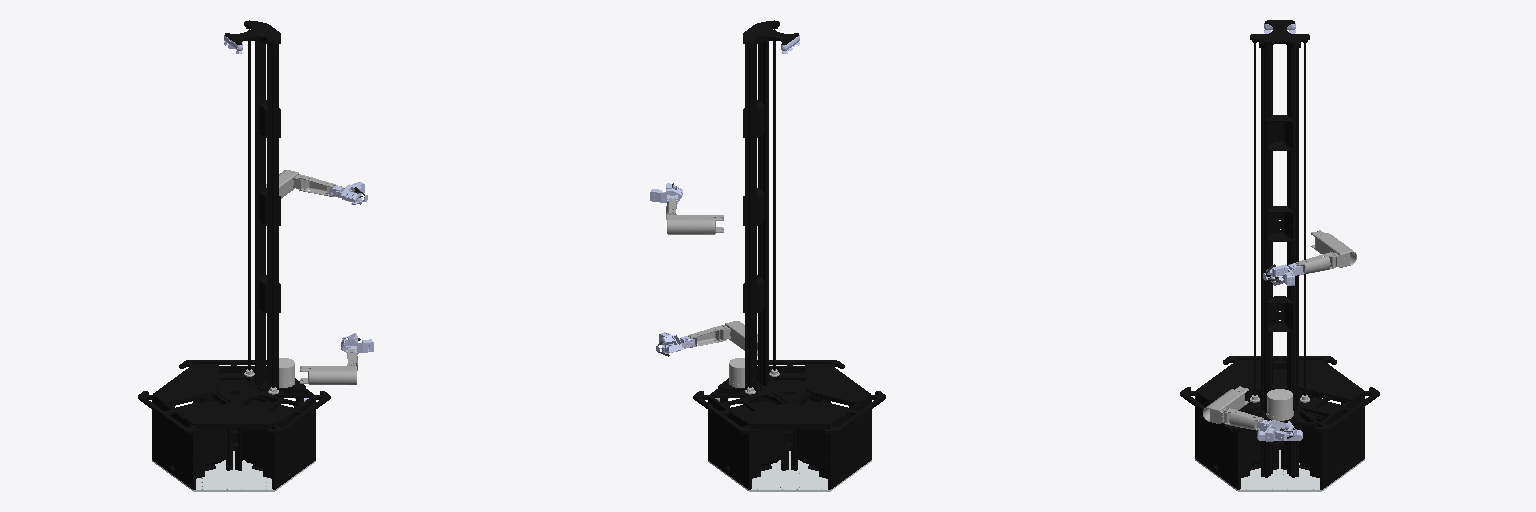
--- Facts derived from the render (not from the file) ---
Views: 3 orthographic renders of the robot side by side, from view 1: azimuth 30°, elevation 25°; view 2: azimuth 150°, elevation 25°; view 3: azimuth 270°, elevation 25°.
Robot: stickbug — 77 links, 76 joints (42 revolute, 3 continuous, 6 prismatic, 25 fixed); root link stickbug/drivebase/base_footprint; default pose: joints at zero except 3 at the middle of their limits (stickbug/arm1/slider = 0.655, stickbug/arm3/slider = 0.655, stickbug/arm5/slider = 0.655).
Links seen in each view (by area): view 1: stickbug/drivebase/base_link, stickbug/drivebase/base_footprint, stickbug/arm2/bicep; view 2: stickbug/drivebase/base_link, stickbug/drivebase/base_footprint, stickbug/arm1/bicep; view 3: stickbug/drivebase/base_link, stickbug/drivebase/base_footprint, stickbug/arm1/bicep, stickbug/arm2/bicep, stickbug/drivebase/lidar.
Boxes of the visible links, x1=… form: stickbug/drivebase/base_link: x1=138, y1=20, x2=330, y2=489; stickbug/drivebase/base_footprint: x1=152, y1=451, x2=315, y2=491; stickbug/arm2/bicep: x1=300, y1=363, x2=356, y2=384; stickbug/drivebase/base_link: x1=693, y1=20, x2=885, y2=489; stickbug/drivebase/base_footprint: x1=708, y1=451, x2=871, y2=491; stickbug/arm1/bicep: x1=667, y1=214, x2=723, y2=234; stickbug/drivebase/base_link: x1=1180, y1=20, x2=1379, y2=489; stickbug/drivebase/base_footprint: x1=1195, y1=450, x2=1364, y2=491; stickbug/arm1/bicep: x1=1311, y1=230, x2=1356, y2=267; stickbug/arm2/bicep: x1=1203, y1=386, x2=1248, y2=423; stickbug/drivebase/lidar: x1=1266, y1=389, x2=1293, y2=420.
Bounding box of the posed robot: 0.9406 × 0.7584 × 1.84 m (x, y, z).
Meshes: 30 distinct files referenced, 61 mesh visuals loaded (25 binary STL); not drawn: 9 (reference not matched to a file when rendering).

The robot description file, URDF, robot "stickbug":
<?xml version="1.0" ?>
<!-- =================================================================================== -->
<!-- |    This document was autogenerated by xacro from [local-path]/workspace-stickbug/src/stickbug/robot-stickbug/stickbug/urdf/stickbug.urdf.xacro | -->
<!-- |    EDITING THIS FILE BY HAND IS NOT RECOMMENDED                                 | -->
<!-- =================================================================================== -->
<robot name="stickbug">
    <link name="stickbug/drivebase/base_footprint">
        <inertial>
            <origin rpy="0 0 0" xyz="2.14152041306814E-05 3.23189598462186E-05 0.066675" />
            <mass value="4.61207520224653" />
            <inertia ixx="0.0999230513061692" ixy="2.56363639829506E-06" ixz="-1.98809620225214E-19" iyy="0.0999410253939969" iyz="6.92922956199162E-20" izz="0.199833081633109" />
        </inertial>
        <visual>
            <origin rpy="0 0 0" xyz="0 0 0" />
            <geometry>
                <mesh filename="package://stickbug_base/meshes/base_footprint.STL" />
            </geometry>
            <material name="">
                <color rgba="0.898039215686275 0.917647058823529 0.929411764705882 1" />
            </material>
        </visual>
        <collision>
            <origin rpy="0 0 0" xyz="0 0 0" />
            <geometry>
                <mesh filename="package://stickbug_base/meshes/base_footprint.STL" />
            </geometry>
        </collision>
    </link>
    <link name="stickbug/drivebase/base_link">
        <inertial>
            <origin rpy="0 0 0" xyz="0.0102079284624479 -3.86323815662623E-05 0.201127610999515" />
            <mass value="35.0775372153667" />
            <inertia ixx="0.845153226678831" ixy="1.15795308289346E-06" ixz="-4.72502983562422E-06" iyy="0.857016820744041" iyz="-1.46341439248048E-08" izz="0.4330698567729" />
        </inertial>
        <visual>
            <origin rpy="0 0 0" xyz="0 0 0" />
            <geometry>
                <mesh filename="package://stickbug_base/meshes/base_link.STL" />
            </geometry>
            <material name="">
                <color rgba="0.109803921568627 0.109803921568627 0.109803921568627 1" />
            </material>
        </visual>
        <collision>
            <origin rpy="0 0 0" xyz="0 0 0" />
            <geometry>
                <mesh filename="package://stickbug_base/meshes/base_link.STL" />
            </geometry>
        </collision>
    </link>
    <joint name="stickbug/drivebase/foot2base" type="fixed">
        <origin rpy="0 0 0" xyz="2.1415E-05 3.2319E-05 0.0635" />
        <parent link="stickbug/drivebase/base_footprint" />
        <child link="stickbug/drivebase/base_link" />
        <axis xyz="0 0 0" />
    </joint>
    <link name="stickbug/drivebase/fr_wheel">
        <inertial>
            <origin rpy="0 0 0" xyz="4.82958464445016E-05 -7.32604728410462E-05 -0.0158742308710669" />
            <mass value="0.626653098801925" />
            <inertia ixx="0.00071178175395083" ixy="2.7414822166393E-09" ixz="-5.77419111548287E-08" iyy="0.000711774501854219" iyz="7.87863202048541E-08" izz="0.00139769373829352" />
        </inertial>
        <visual>
            <origin rpy="0 0 0" xyz="0 0 0" />
            <geometry>
                <mesh filename="package://stickbug_base/meshes/fr_wheel.STL" />
            </geometry>
            <material name="">
                <color rgba="0.792156862745098 0.819607843137255 0.933333333333333 1" />
            </material>
        </visual>
        <collision>
            <origin rpy="0 0 0" xyz="0 0 0" />
            <geometry>
                <mesh filename="package://stickbug_base/meshes/fr_wheel.STL" />
            </geometry>
        </collision>
    </link>
    <joint name="stickbug/drivebase/frw" type="continuous">
        <origin rpy="1.5708 0 0.5236" xyz="0.16059 -0.27821 0.0381" />
        <parent link="stickbug/drivebase/base_link" />
        <child link="stickbug/drivebase/fr_wheel" />
        <axis xyz="0 0 1" />
        <limit effort="10.0" velocity="10" />
        <dynamics damping="0.2" />
    </joint>
    <link name="stickbug/drivebase/fl_wheel">
        <inertial>
            <origin rpy="0 0 0" xyz="-7.20537664984366E-05 -6.99681935735462E-05 -0.0152708692239969" />
            <mass value="0.559485027704479" />
            <inertia ixx="0.000579784098176026" ixy="-1.88505640148465E-09" ixz="6.17916644106062E-08" iyy="0.000579785178714697" iyz="7.56495525234232E-08" izz="0.0011338073867259" />
        </inertial>
        <visual>
            <origin rpy="0 0 0" xyz="0 0 0" />
            <geometry>
                <mesh filename="package://stickbug_base/meshes/fl_wheel.STL" />
            </geometry>
            <material name="">
                <color rgba="0.792156862745098 0.819607843137255 0.933333333333333 1" />
            </material>
        </visual>
        <collision>
            <origin rpy="0 0 0" xyz="0 0 0" />
            <geometry>
                <mesh filename="package://stickbug_base/meshes/fl_wheel.STL" />
            </geometry>
        </collision>
    </link>
    <joint name="stickbug/drivebase/flw" type="continuous">
        <origin rpy="1.5708 0 2.618" xyz="0.16059 0.27815 0.0381" />
        <parent link="stickbug/drivebase/base_link" />
        <child link="stickbug/drivebase/fl_wheel" />
        <axis xyz="0 0 1" />
        <limit effort="10.0" velocity="10" />
        <dynamics damping="0.2" />
    </joint>
    <link name="stickbug/drivebase/b_wheel">
        <inertial>
            <origin rpy="0 0 0" xyz="8.36992519676054E-05 -2.63433393755813E-05 -0.0158742295235679" />
            <mass value="0.626653031138758" />
            <inertia ixx="0.00071177618338088" ixy="4.1083335760656E-09" ixz="-9.45107850065779E-08" iyy="0.000711780076798303" iyz="2.46679649776571E-08" izz="0.00139769373928287" />
        </inertial>
        <visual>
            <origin rpy="0 0 0" xyz="0 0 0" />
            <geometry>
                <mesh filename="package://stickbug_base/meshes/b_wheel.STL" />
            </geometry>
            <material name="">
                <color rgba="0.792156862745098 0.819607843137255 0.933333333333333 1" />
            </material>
        </visual>
        <collision>
            <origin rpy="0 0 0" xyz="0 0 0" />
            <geometry>
                <mesh filename="package://stickbug_base/meshes/b_wheel.STL" />
            </geometry>
        </collision>
    </link>
    <joint name="stickbug/drivebase/bw" type="continuous">
        <origin rpy="1.5708 0 -1.5708" xyz="-0.32124 -3.2319E-05 0.0381" />
        <parent link="stickbug/drivebase/base_link" />
        <child link="stickbug/drivebase/b_wheel" />
        <axis xyz="0 0 1" />
        <limit effort="10.0" velocity="10" />
        <dynamics damping="0.2" />
    </joint>
    <link name="stickbug/drivebase/lidar">
        <inertial>
            <origin rpy="0 0 0" xyz="-9.78202271295636E-05 -2.43039787231798E-06 0.0058316040170599" />
            <mass value="0.6957286087788" />
            <inertia ixx="0.000878507722123655" ixy="8.3578146326656E-11" ixz="8.3324695920418E-08" iyy="0.000878975923859681" iyz="-6.86791280845821E-08" izz="0.000889858414455019" />
        </inertial>
        <visual>
            <origin rpy="0 0 0" xyz="0 0 0" />
            <geometry>
                <mesh filename="package://stickbug_base/meshes/lidar.STL" />
            </geometry>
            <material name="">
                <color rgba="0.752941176470588 0.752941176470588 0.752941176470588 1" />
            </material>
        </visual>
        <collision>
            <origin rpy="0 0 0" xyz="0 0 0" />
            <geometry>
                <mesh filename="package://stickbug_base/meshes/lidar.STL" />
            </geometry>
        </collision>
    </link>
    <joint name="stickbug/drivebase/base2lidar" type="fixed">
        <origin rpy="0 0 0" xyz="0.21804 -3.2319E-05 0.32913" />
        <parent link="stickbug/drivebase/base_link" />
        <child link="stickbug/drivebase/lidar" />
        <axis xyz="0 0 0" />
    </joint>
    <link name="stickbug/drivebase/zed">
        <inertial>
            <origin rpy="0 0 0" xyz="-0.0194322614660269 9.12426059709588E-07 -0.000862607518043401" />
            <mass value="0.167694642835054" />
            <inertia ixx="0.000382844282483195" ixy="3.2315292808456E-09" ixz="-3.326725690359E-07" iyy="3.24806894733853E-05" iyz="1.49948250317334E-09" izz="0.000390509177129988" />
        </inertial>
        <visual>
            <origin rpy="0 0 0" xyz="0 0 0" />
            <geometry>
                <mesh filename="package://stickbug_base/meshes/zed.STL" />
            </geometry>
            <material name="">
                <color rgba="0.792156862745098 0.819607843137255 0.933333333333333 1" />
            </material>
        </visual>
        <collision>
            <origin rpy="0 0 0" xyz="0 0 0" />
            <geometry>
                <mesh filename="package://stickbug_base/meshes/zed.STL" />
            </geometry>
        </collision>
    </link>
    <joint name="stickbug/drivebase/base2zed" type="fixed">
        <origin rpy="0 0.034907 0" xyz="0.30283 -3.2319E-05 0.23593" />
        <parent link="stickbug/drivebase/base_link" />
        <child link="stickbug/drivebase/zed" />
        <axis xyz="0 0 0" />
    </joint>
    <link name="stickbug/drivebase/d355">
        <inertial>
            <origin rpy="0 0 0" xyz="-0.00788625798889209 -0.000593104662498781 9.05379812177198E-05" />
            <mass value="0.061436017794559" />
            <inertia ixx="5.89869602274054E-05" ixy="-1.96801347845483E-08" ixz="-2.7110431537758E-08" iyy="4.49845717604606E-06" iyz="1.96478787836703E-08" izz="5.57860158775296E-05" />
        </inertial>
        <visual>
            <origin rpy="0 0 0" xyz="0 0 0" />
            <geometry>
                <mesh filename="package://stickbug_base/meshes/d355.STL" />
            </geometry>
            <material name="">
                <color rgba="0.792156862745098 0.819607843137255 0.933333333333333 1" />
            </material>
        </visual>
        <collision>
            <origin rpy="0 0 0" xyz="0 0 0" />
            <geometry>
                <mesh filename="package://stickbug_base/meshes/d355.STL" />
            </geometry>
        </collision>
    </link>
    <joint name="stickbug/drivebase/base2d355" type="fixed">
        <origin rpy="3.1416 1.5708 0" xyz="-0.0035667 -3.2319E-05 1.8093" />
        <!-- 0 3.1416 -1.5708-->
        <parent link="stickbug/drivebase/base_link" />
        <child link="stickbug/drivebase/d355" />
        <axis xyz="0 0 0" />
    </joint>
    <link name="stickbug/drivebase/l_lift">
        <inertial>
            <origin rpy="0 0 0" xyz="0.000290120193721988 -3.98269065002427E-05 -0.0130757720478314" />
            <mass value="0.0129866178194594" />
            <inertia ixx="1.43164773219033E-06" ixy="2.3850396902316E-09" ixz="-1.65543141791114E-08" iyy="1.44873230959085E-06" iyz="2.27143690223563E-09" izz="2.11753052630025E-06" />
        </inertial>
        <visual>
            <origin rpy="0 0 0" xyz="0 0 0" />
            <geometry>
                <mesh filename="package://stickbug_base/meshes/l_lift.STL" />
            </geometry>
            <material name="">
                <color rgba="0.752941176470588 0.752941176470588 0.752941176470588 1" />
            </material>
        </visual>
        <collision>
            <origin rpy="0 0 0" xyz="0 0 0" />
            <geometry>
                <mesh filename="package://stickbug_base/meshes/l_lift.STL" />
            </geometry>
        </collision>
    </link>
    <joint name="stickbug/drivebase/base2l_lift" type="fixed">
        <origin rpy="0 0 0" xyz="0.12397 0.094788 0.32988" />
        <parent link="stickbug/drivebase/base_link" />
        <child link="stickbug/drivebase/l_lift" />
        <axis xyz="0 0 0" />
    </joint>
    <link name="stickbug/drivebase/r_lift">
        <inertial>
            <origin rpy="0 0 0" xyz="0.00029284109815797 -2.274392613133E-08 -0.013075772047841" />
            <mass value="0.0129866178194594" />
            <inertia ixx="1.43132102452946E-06" ixy="-3.75614859620096E-12" ixz="-1.67094208007256E-08" iyy="1.44905901725174E-06" iyz="2.13866775789404E-13" izz="2.11753052630024E-06" />
        </inertial>
        <visual>
            <origin rpy="0 0 0" xyz="0 0 0" />
            <geometry>
                <mesh filename="package://stickbug_base/meshes/r_lift.STL" />
            </geometry>
            <material name="">
                <color rgba="0.752941176470588 0.752941176470588 0.752941176470588 1" />
            </material>
        </visual>
        <collision>
            <origin rpy="0 0 0" xyz="0 0 0" />
            <geometry>
                <mesh filename="package://stickbug_base/meshes/r_lift.STL" />
            </geometry>
        </collision>
    </link>
    <joint name="stickbug/drivebase/base2r_lift" type="fixed">
        <origin rpy="0 0 0" xyz="0.12379 -0.095217 0.32988" />
        <parent link="stickbug/drivebase/base_link" />
        <child link="stickbug/drivebase/r_lift" />
        <axis xyz="0 0 0" />
    </joint>
    <link name="stickbug/drivebase/camera_frame" />
    <joint name="stickbug/drivebase/d3552cam" type="fixed">
        <parent link="stickbug/drivebase/d355" />
        <child link="stickbug/drivebase/camera_frame" />
        <origin rpy="-1.57 0.0 -1.57" xyz="0.0 0.0 0.0" />
    </joint>
    <!-- ================================= motor joint controllers ==========================-->
    <transmission name="stickbug/drivebase/trans_frw">
        <type>transmission_interface/SimpleTransmission</type>
        <joint name="stickbug/drivebase/frw">
            <hardwareInterface>hardware_interface/EffortJointInterface</hardwareInterface>
        </joint>
        <actuator name="stickbug/drivebase/frw_motor">
            <hardwareInterface>hardware_interface/EffortJointInterface</hardwareInterface>
            <mechanicalReduction>1</mechanicalReduction>
        </actuator>
    </transmission>
    <transmission name="stickbug/drivebase/trans_flw">
        <type>transmission_interface/SimpleTransmission</type>
        <joint name="stickbug/drivebase/flw">
            <hardwareInterface>hardware_interface/EffortJointInterface</hardwareInterface>
        </joint>
        <actuator name="stickbug/drivebase/flw_motor">
            <hardwareInterface>hardware_interface/EffortJointInterface</hardwareInterface>
            <mechanicalReduction>1</mechanicalReduction>
        </actuator>
    </transmission>
    <transmission name="stickbug/drivebase/trans_bw">
        <type>transmission_interface/SimpleTransmission</type>
        <joint name="stickbug/drivebase/bw">
            <hardwareInterface>hardware_interface/EffortJointInterface</hardwareInterface>
        </joint>
        <actuator name="stickbug/drivebase/bw_motor">
            <hardwareInterface>hardware_interface/EffortJointInterface</hardwareInterface>
            <mechanicalReduction>1</mechanicalReduction>
        </actuator>
    </transmission>
    <!--=============================== holonomic drivetrain plugin ==========================-->
    <gazebo>
        <plugin filename="libgazebo_ros_planar_move.so" name="stickbug/drivebase/object_controller">
            <commandTopic>stickbug/drivebase/cmd_vel</commandTopic>
            <odometryTopic>stickbug/drivebase/odom</odometryTopic>
            <odometryFrame>odom</odometryFrame>
            <odometryRate>20.0</odometryRate>
            <robotBaseFrame>stickbug/drivebase/base_footprint</robotBaseFrame>
        </plugin>
        <plugin name="gazebo_ros_control">
            <robotNamespace>/</robotNamespace>
        </plugin>
    </gazebo>
    <!--================================ realsense plugin ================================-->
    <gazebo reference="stickbug/drivebase/d355">
        <sensor name="stickbug/drivebase/d355_camera" type="depth">
            <update_rate>20</update_rate>
            <camera>
                <horizontal_fov>1.047198</horizontal_fov>
                <image>
                    <width>640</width>
                    <height>480</height>
                    <format>R8G8B8</format>
                </image>
                <clip>
                    <near>0.05</near>
                    <far>3</far>
                </clip>
            </camera>
            <plugin filename="libgazebo_ros_openni_kinect.so" name="stickbug/drivebase/d355_controller">
                <baseline>0.2</baseline>
                <alwaysOn>true</alwaysOn>
                <updateRate>1.0</updateRate>
                <cameraName>stickbug/drivebase/d355</cameraName>
                <imageTopicName>color/image_raw</imageTopicName>
                <cameraInfoTopicName>color/camera_info</cameraInfoTopicName>
                <depthImageTopicName>depth/image_raw</depthImageTopicName>
                <depthImageInfoTopicName>depth/camera_info</depthImageInfoTopicName>
                <pointCloudTopicName>depth/points</pointCloudTopicName>
                <frameName>stickbug/drivebase/camera_frame</frameName>
                <pointCloudCutoff>0.5</pointCloudCutoff>
                <pointCloudCutoffMax>3.0</pointCloudCutoffMax>
                <distortionK1>0.00000001</distortionK1>
                <distortionK2>0.00000001</distortionK2>
                <distortionK3>0.00000001</distortionK3>
                <distortionT1>0.00000001</distortionT1>
                <distortionT2>0.00000001</distortionT2>
                <CxPrime>0</CxPrime>
                <Cx>0</Cx>
                <Cy>0</Cy>
                <focalLength>0</focalLength>
                <hackBaseline>0</hackBaseline>
            </plugin>
        </sensor>
    </gazebo>
    <!--================================ lidar plugin ============================================-->
    <gazebo reference="stickbug/drivebase/lidar">
        <sensor name="sonar" type="ray">
            <pose>0.0 0.0 0.0 0.0 0.0 0.0</pose>
            <ray>
                <scan>
                    <horizontal>
                        <samples>360</samples>
                        <resolution>1.0</resolution>
                        <min_angle>-3.14</min_angle>
                        <max_angle>3.14</max_angle>
                    </horizontal>
                    <vertical>
                        <samples>32</samples>
                        <resolution>1.0</resolution>
                        <min_angle>-0.7854</min_angle>
                        <max_angle>0.7854</max_angle>
                    </vertical>
                </scan>
                <range>
                    <min>0.2</min>
                    <max>50.0</max>
                </range>
            </ray>
            <plugin filename="libgazebo_ros_block_laser.so" name="sonar_plugin">
                <gaussianNoise>0.00</gaussianNoise>
                <alwaysOn>true</alwaysOn>
                <updateRate>100.0</updateRate>
                <topicName>stickbug/drivebase/points</topicName>
                <frameName>stickbug/drivebase/lidar</frameName>
            </plugin>
            <always_on>true</always_on>
            <update_rate>100.0</update_rate>
        </sensor>
    </gazebo>
    <!--joint name="${ns}/lift2base" type="fixed">
      <parent link="${parent_link}"/>
      <child link="${ns}/base"/>
      <axis xyz="0 0 0" />
      <origin rpy="0 0 0" xyz="0 0 0"/>
    </joint>

    <link
      name="${ns}/base">
      <inertial>
      <origin xyz="0 0 0" rpy="0 0 0"/>
      <mass value=".0001"/>
      <inertia
        ixx="0.0001" ixy="0.0001" ixz="0.0001"
        iyy="0.0001" iyz="0.0001"
        izz="0.0001"/>
      </inertial>
    </link>-->
    <link name="stickbug/arm1/box">
        <inertial>
            <origin rpy="0 0 0" xyz="-0.0294836466854796 0.00650699178978326 0.044874078657663" />
            <mass value="1.25224595398726" />
            <inertia ixx="0.00206596064394956" ixy="-0.000334896166615364" ixz="0.000136948453654299" iyy="0.0035115970252851" iyz="-4.17254634185765E-05" izz="0.00431158338218049" />
        </inertial>
        <visual>
            <origin rpy="0 0 0" xyz="0 0 0" />
            <geometry>
                <mesh filename="package://poll_arm_left/meshes/box.STL" />
            </geometry>
            <material name="">
                <color rgba="0.792156862745098 0.819607843137255 0.933333333333333 1" />
            </material>
        </visual>
        <collision>
            <origin rpy="0 0 0" xyz="0 0 0" />
            <geometry>
                <mesh filename="package://poll_arm_left/meshes/box.STL" />
            </geometry>
        </collision>
    </link>
    <joint name="stickbug/arm1/slider" type="prismatic">
        <origin rpy="0 0 0" xyz="0 0 0" />
        <parent link="stickbug/drivebase/l_lift" />
        <child link="stickbug/arm1/box" />
        <axis xyz="0 0 1" />
        <limit effort="100" lower="0.01" upper="1.3" velocity=".5" />
        <dynamics damping="0.2" />
    </joint>
    <link name="stickbug/arm1/bicep">
        <inertial>
            <origin rpy="0 0 0" xyz="0.19577236492752 -0.0256170060224436 0.030251757517972" />
            <mass value="0.0881583450015477" />
            <inertia ixx="4.02190655717306E-05" ixy="9.41441514112841E-09" ixz="4.66388635592044E-08" iyy="2.35490419805005E-05" iyz="-9.36030697866667E-08" izz="3.32834464790013E-05" />
        </inertial>
        <visual>
            <origin rpy="0 0 0" xyz="0 0 0" />
            <geometry>
                <mesh filename="package://poll_arm_left/meshes/bicep.STL" />
            </geometry>
            <material name="">
                <color rgba="0.698039215686274 0.698039215686274 0.698039215686274 1" />
            </material>
        </visual>
        <collision>
            <origin rpy="0 0 0" xyz="0 0 0" />
            <geometry>
                <mesh filename="package://poll_arm_left/meshes/bicep.STL" />
            </geometry>
        </collision>
    </link>
    <joint name="stickbug/arm1/shoulder" type="revolute">
        <origin rpy="0 0 0.5236" xyz="0.10198 0.044401 0.019165" />
        <parent link="stickbug/arm1/box" />
        <child link="stickbug/arm1/bicep" />
        <axis xyz="0 0 1" />
        <limit effort="10" lower="-1.57" upper="1.57" velocity="1" />
        <dynamics damping="0.01" />
    </joint>
    <link name="stickbug/arm1/forearm">
        <inertial>
            <origin rpy="0 0 0" xyz="0.0765243373190795 0.00763087662935313 0.0278702986201432" />
            <mass value="0.0881583450015477" />
            <inertia ixx="4.02190655717306E-05" ixy="9.41441514112841E-09" ixz="4.66388635592044E-08" iyy="2.35490419805005E-05" iyz="-9.36030697866667E-08" izz="3.32834464790013E-05" />
        </inertial>
        <visual>
            <origin rpy="0 0 0" xyz="0 0 0" />
            <geometry>
                <mesh filename="package://poll_arm_left/meshes/forearm.STL" />
            </geometry>
            <material name="">
                <color rgba="0.698039215686274 0.698039215686274 0.698039215686274 1" />
            </material>
        </visual>
        <collision>
            <origin rpy="0 0 0" xyz="0 0 0" />
            <geometry>
                <mesh filename="package://poll_arm_left/meshes/forearm.STL" />
            </geometry>
        </collision>
    </link>
    <joint name="stickbug/arm1/elbow" type="revolute">
        <origin rpy="0 0 -1.5708" xyz="0.1959 -0.040686 0.0024841" />
        <parent link="stickbug/arm1/bicep" />
        <child link="stickbug/arm1/forearm" />
        <axis xyz="0 0 1" />
        <limit effort="10" lower="-1.57" upper="1.57" velocity="1" />
        <dynamics damping="0.01" />
    </joint>
    <link name="stickbug/arm1/w1_link">
        <inertial>
            <origin rpy="0 0 0" xyz="0.011999849295342 0.000549087822445393 0.0223834540031007" />
            <mass value="0.0565320862795783" />
            <inertia ixx="1.0226625085126E-05" ixy="-6.10475234166538E-10" ixz="7.97796107526984E-10" iyy="1.43894864274769E-05" iyz="3.44003507752819E-07" izz="1.4389503019841E-05" />
        </inertial>
        <visual>
            <origin rpy="0 0 0" xyz="0 0 0" />
            <geometry>
                <mesh filename="package://poll_arm_left/meshes/w1_link.STL" />
            </geometry>
            <material name="">
                <color rgba="0.792156862745098 0.819607843137255 0.933333333333333 1" />
            </material>
        </visual>
        <collision>
            <origin rpy="0 0 0" xyz="0 0 0" />
            <geometry>
                <mesh filename="package://poll_arm_left/meshes/w1_link.STL" />
            </geometry>
        </collision>
    </link>
    <joint name="stickbug/arm1/w1" type="revolute">
        <origin rpy="0 0 0" xyz="0.15435 0 0.0058612" />
        <parent link="stickbug/arm1/forearm" />
        <child link="stickbug/arm1/w1_link" />
        <axis xyz="0 0 1" />
        <limit effort="1" lower="-1.57" upper="1.57" velocity="1" />
        <dynamics damping="0.01" />
    </joint>
    <link name="stickbug/arm1/w2_link">
        <inertial>
            <origin rpy="0 0 0" xyz="0.0566451733011975 -0.00141725658574912 0.0284323416048119" />
            <mass value="0.153757182920479" />
            <inertia ixx="9.61201704567482E-05" ixy="-2.53181854057694E-06" ixz="1.28235405708061E-05" iyy="0.000113585627853035" iyz="-2.70973268265226E-06" izz="6.51970121574257E-05" />
        </inertial>
        <visual>
            <origin rpy="0 0 0" xyz="0 0 0" />
            <geometry>
                <mesh filename="package://poll_arm_left/meshes/w2_link.STL" />
            </geometry>
            <material name="">
                <color rgba="0.792156862745098 0.819607843137255 0.933333333333333 1" />
            </material>
        </visual>
        <collision>
            <origin rpy="0 0 0" xyz="0 0 0" />
            <geometry>
                <mesh filename="package://poll_arm_left/meshes/w2_link.STL" />
            </geometry>
        </collision>
    </link>
    <joint name="stickbug/arm1/w2" type="revolute">
        <origin rpy="-1.5708 0 0" xyz="0.024 -0.0222 0.021834" />
        <parent link="stickbug/arm1/w1_link" />
        <child link="stickbug/arm1/w2_link" />
        <axis xyz="0 0 1" />
        <limit effort="1" lower="-1.57" upper="1.57" velocity="1" />
        <dynamics damping="0.01" />
    </joint>
    <link name="stickbug/arm1/cam_link">
        <inertial>
            <origin rpy="0 0 0" xyz="-0.0113814657659481 -3.77656326211451E-08 -8.96828082673773E-05" />
            <mass value="0.039484046404376" />
            <inertia ixx="1.13008734896739E-05" ixy="-1.1840327216836E-12" ixz="-1.1184981555834E-08" iyy="7.34442345562825E-06" iyz="2.14724251253116E-11" izz="7.39890475454633E-06" />
        </inertial>
        <visual>
            <origin rpy="0 0 0" xyz="0 0 0" />
            <geometry>
                <mesh filename="package://poll_arm_left/meshes/cam_link.STL" />
            </geometry>
            <material name="">
                <color rgba="0.792156862745098 0.819607843137255 0.933333333333333 1" />
            </material>
        </visual>
        <collision>
            <origin rpy="0 0 0" xyz="0 0 0" />
            <geometry>
                <mesh filename="package://poll_arm_left/meshes/cam_link.STL" />
            </geometry>
        </collision>
    </link>
    <joint name="stickbug/arm1/cam_joint" type="fixed">
        <origin rpy="0 0.2618 0" xyz="0.063863 0 0.083432" />
        <parent link="stickbug/arm1/w2_link" />
        <child link="stickbug/arm1/cam_link" />
        <axis xyz="0 0 0" />
    </joint>
    <link name="stickbug/arm1/e1_link">
        <inertial>
            <origin rpy="0 0 0" xyz="0.00768377159854705 0.00530600599131281 -0.000730992899423188" />
            <mass value="0.00225996756513805" />
            <inertia ixx="1.30412723697187E-07" ixy="9.73218559749733E-08" ixz="2.16169394663049E-08" iyy="1.966205244536E-07" iyz="-1.2986245459416E-08" izz="3.15647081687985E-07" />
        </inertial>
        <visual>
            <origin rpy="0 0 0" xyz="0 0 0" />
            <geometry>
                <mesh filename="package://poll_arm_left/meshes/e1_link.STL" />
            </geometry>
            <material name="">
                <color rgba="0.792156862745098 0.819607843137255 0.933333333333333 1" />
            </material>
        </visual>
        <collision>
            <origin rpy="0 0 0" xyz="0 0 0" />
            <geometry>
                <mesh filename="package://poll_arm_left/meshes/e1_link.STL" />
            </geometry>
        </collision>
    </link>
    <joint name="stickbug/arm1/e1" type="revolute">
        <origin rpy="-1.0472 0 0" xyz="0.077 0.011263 0.0070007" />
        <parent link="stickbug/arm1/w2_link" />
        <child link="stickbug/arm1/e1_link" />
        <axis xyz="0 0 1" />
        <limit effort=".01" lower="-1.57" upper="1.57" velocity="1" />
        <dynamics damping="0.01" />
    </joint>
    <link name="stickbug/arm1/e2_link">
        <inertial>
            <origin rpy="0 0 0" xyz="0.00768377159939804 0.00530600599028475 -0.000730992897713945" />
            <mass value="0.00225996756505407" />
            <inertia ixx="1.30412723709295E-07" ixy="9.73218559904026E-08" ixz="2.16169394327849E-08" iyy="1.96620524444531E-07" iyz="-1.2986245443103E-08" izz="3.15647081713528E-07" />
        </inertial>
        <visual>
            <origin rpy="0 0 0" xyz="0 0 0" />
            <geometry>
                <mesh filename="package://poll_arm_left/meshes/e2_link.STL" />
            </geometry>
            <material name="">
                <color rgba="0.250980392156863 0.250980392156863 0.250980392156863 1" />
            </material>
        </visual>
        <collision>
            <origin rpy="0 0 0" xyz="0 0 0" />
            <geometry>
                <mesh filename="package://poll_arm_left/meshes/e2_link.STL" />
            </geometry>
        </collision>
    </link>
    <joint name="stickbug/arm1/e2" type="revolute">
        <origin rpy="1.0472 0 0" xyz="0.077 0.0074446 0.039404" />
        <parent link="stickbug/arm1/w2_link" />
        <child link="stickbug/arm1/e2_link" />
        <axis xyz="0 0 1" />
        <limit effort=".01" lower="-1.57" upper="1.57" velocity="1" />
        <dynamics damping="0.01" />
    </joint>
    <link name="stickbug/arm1/e3_link">
        <inertial>
            <origin rpy="0 0 0" xyz="0.00768377159880085 0.00530600599161343 -0.000730992902174321" />
            <mass value="0.00225996756527347" />
            <inertia ixx="1.30412723718879E-07" ixy="9.73218559573204E-08" ixz="2.16169395180174E-08" iyy="1.96620524429933E-07" iyz="-1.2986245490849E-08" izz="3.15647081641822E-07" />
        </inertial>
        <visual>
            <origin rpy="0 0 0" xyz="0 0 0" />
            <geometry>
                <mesh filename="package://poll_arm_left/meshes/e3_link.STL" />
            </geometry>
            <material name="">
                <color rgba="0.250980392156863 0.250980392156863 0.250980392156863 1" />
            </material>
        </visual>
        <collision>
            <origin rpy="0 0 0" xyz="0 0 0" />
            <geometry>
                <mesh filename="package://poll_arm_left/meshes/e3_link.STL" />
            </geometry>
        </collision>
    </link>
    <joint name="stickbug/arm1/e3" type="revolute">
        <origin rpy="3.1416 0 0" xyz="0.077 -0.018708 0.019895" />
        <parent link="stickbug/arm1/w2_link" />
        <child link="stickbug/arm1/e3_link" />
        <axis xyz="0 0 1" />
        <limit effort=".01" lower="-1.57" upper="1.57" velocity="1" />
        <dynamics damping="0.01" />
    </joint>
    <link name="stickbug/arm1/end_link">
        <inertial>
            <origin rpy="0 0 0" xyz="-0.00224236893916069 3.51872006532084E-08 -3.59307918973428E-08" />
            <mass value="0.00244973338644465" />
            <inertia ixx="2.1728168358708E-07" ixy="-1.95917302130553E-13" ixz="3.07605742817941E-13" iyy="1.14231479742372E-07" iyz="9.90134628383345E-13" izz="1.14231411420646E-07" />
        </inertial>
        <visual>
            <origin rpy="0 0 0" xyz="0 0 0" />
            <geometry>
                <mesh filename="package://poll_arm_left/meshes/end_link.STL" />
            </geometry>
            <material name="">
                <color rgba="0.792156862745098 0.819607843137255 0.933333333333333 1" />
            </material>
        </visual>
        <collision>
            <origin rpy="0 0 0" xyz="0 0 0" />
            <geometry>
                <mesh filename="package://poll_arm_left/meshes/end_link.STL" />
            </geometry>
        </collision>
    </link>
    <joint name="stickbug/arm1/end_joint" type="fixed">
        <origin rpy="1.5708 0 0" xyz="0.12293 0 0.0221" />
        <parent link="stickbug/arm1/w2_link" />
        <child link="stickbug/arm1/end_link" />
        <axis xyz="0 0 0" />
    </joint>
    <link name="stickbug/arm1/camera_frame" />
    <joint name="stickbug/arm1/cam_link2cam_frame" type="fixed">
        <parent link="stickbug/arm1/cam_link" />
        <child link="stickbug/arm1/camera_frame" />
        <origin rpy="-1.57 0.0 -1.57" xyz="0.0 0.0 0.0" />
    </joint>
    <transmission name="stickbug/arm1/trans_slider">
        <type>transmission_interface/SimpleTransmission</type>
        <joint name="stickbug/arm1/slider">
            <hardwareInterface>hardware_interface/EffortJointInterface</hardwareInterface>
        </joint>
        <actuator name="stickbug/arm1/slider_motor">
            <hardwareInterface>hardware_interface/EffortJointInterface</hardwareInterface>
            <mechanicalReduction>1</mechanicalReduction>
        </actuator>
    </transmission>
    <transmission name="stickbug/arm1/trans_shoulder">
        <type>transmission_interface/SimpleTransmission</type>
        <joint name="stickbug/arm1/shoulder">
            <hardwareInterface>hardware_interface/EffortJointInterface</hardwareInterface>
        </joint>
        <actuator name="stickbug/arm1/shoulder_motor">
            <hardwareInterface>hardware_interface/EffortJointInterface</hardwareInterface>
            <mechanicalReduction>1</mechanicalReduction>
        </actuator>
    </transmission>
    <transmission name="stickbug/arm1/trans_elbow">
        <type>transmission_interface/SimpleTransmission</type>
        <joint name="stickbug/arm1/elbow">
            <hardwareInterface>hardware_interface/EffortJointInterface</hardwareInterface>
        </joint>
        <actuator name="stickbug/arm1/elbow_motor">
            <hardwareInterface>hardware_interface/EffortJointInterface</hardwareInterface>
            <mechanicalReduction>1</mechanicalReduction>
        </actuator>
    </transmission>
    <transmission name="stickbug/arm1/trans_w1">
        <type>transmission_interface/SimpleTransmission</type>
        <joint name="stickbug/arm1/w1">
            <hardwareInterface>hardware_interface/EffortJointInterface</hardwareInterface>
        </joint>
        <actuator name="stickbug/arm1/w1_motor">
            <hardwareInterface>hardware_interface/EffortJointInterface</hardwareInterface>
            <mechanicalReduction>1</mechanicalReduction>
        </actuator>
    </transmission>
    <transmission name="stickbug/arm1/trans_w2">
        <type>transmission_interface/SimpleTransmission</type>
        <joint name="stickbug/arm1/w2">
            <hardwareInterface>hardware_interface/EffortJointInterface</hardwareInterface>
        </joint>
        <actuator name="stickbug/arm1/w2_motor">
            <hardwareInterface>hardware_interface/EffortJointInterface</hardwareInterface>
            <mechanicalReduction>1</mechanicalReduction>
        </actuator>
    </transmission>
    <transmission name="stickbug/arm1/trans_e1">
        <type>transmission_interface/SimpleTransmission</type>
        <joint name="stickbug/arm1/e1">
            <hardwareInterface>hardware_interface/EffortJointInterface</hardwareInterface>
        </joint>
        <actuator name="stickbug/arm1/e1_motor">
            <hardwareInterface>hardware_interface/EffortJointInterface</hardwareInterface>
            <mechanicalReduction>1</mechanicalReduction>
        </actuator>
    </transmission>
    <transmission name="stickbug/arm1/trans_e2">
        <type>transmission_interface/SimpleTransmission</type>
        <joint name="stickbug/arm1/e2">
            <hardwareInterface>hardware_interface/EffortJointInterface</hardwareInterface>
        </joint>
        <actuator name="stickbug/arm1/e2_motor">
            <hardwareInterface>hardware_interface/EffortJointInterface</hardwareInterface>
            <mechanicalReduction>1</mechanicalReduction>
        </actuator>
    </transmission>
    <transmission name="stickbug/arm1/trans_e3">
        <type>transmission_interface/SimpleTransmission</type>
        <joint name="stickbug/arm1/e3">
            <hardwareInterface>hardware_interface/EffortJointInterface</hardwareInterface>
        </joint>
        <actuator name="stickbug/arm1/e3_motor">
            <hardwareInterface>hardware_interface/EffortJointInterface</hardwareInterface>
            <mechanicalReduction>1</mechanicalReduction>
        </actuator>
    </transmission>
    <!--================================ right realsense plugin ================================-->
    <gazebo reference="stickbug/arm1/cam_link">
        <sensor name="stickbug/arm1/cam_link_camera" type="depth">
            <update_rate>20</update_rate>
            <camera>
                <horizontal_fov>1.047198</horizontal_fov>
                <image>
                    <width>640</width>
                    <height>480</height>
                    <format>R8G8B8</format>
                </image>
                <clip>
                    <near>0.05</near>
                    <far>3</far>
                </clip>
            </camera>
            <plugin filename="libgazebo_ros_openni_kinect.so" name="stickbug/arm1/cam_link_controller">
                <baseline>0.2</baseline>
                <alwaysOn>true</alwaysOn>
                <updateRate>1.0</updateRate>
                <cameraName>stickbug/arm1/cam_link</cameraName>
                <imageTopicName>color/image_raw</imageTopicName>
                <cameraInfoTopicName>color/camera_info</cameraInfoTopicName>
                <depthImageTopicName>depth/image_raw</depthImageTopicName>
                <depthImageInfoTopicName>depth/camera_info</depthImageInfoTopicName>
                <pointCloudTopicName>depth/points</pointCloudTopicName>
                <frameName>stickbug/arm1/camera_frame</frameName>
                <pointCloudCutoff>0.5</pointCloudCutoff>
                <pointCloudCutoffMax>3.0</pointCloudCutoffMax>
                <distortionK1>0.00000001</distortionK1>
                <distortionK2>0.00000001</distortionK2>
                <distortionK3>0.00000001</distortionK3>
                <distortionT1>0.00000001</distortionT1>
                <distortionT2>0.00000001</distortionT2>
                <CxPrime>0</CxPrime>
                <Cx>0</Cx>
                <Cy>0</Cy>
                <focalLength>0</focalLength>
                <hackBaseline>0</hackBaseline>
            </plugin>
        </sensor>
    </gazebo>
    <!--joint name="${ns}/lift2base" type="fixed">
      <parent link="${parent_link}"/>
      <child link="${ns}/base"/>
      <axis xyz="0 0 0" />
      <origin rpy="0 0 0" xyz="0 0 0"/>
    </joint>

    <link
      name="${ns}/base">
      <inertial>
      <origin xyz="0 0 0" rpy="0 0 0"/>
      <mass value=".0001"/>
      <inertia
        ixx="0.0001" ixy="0.0001" ixz="0.0001"
        iyy="0.0001" iyz="0.0001"
        izz="0.0001"/>
      </inertial>
    </link>-->
    <link name="stickbug/arm3/box">
        <inertial>
            <origin rpy="0 0 0" xyz="-0.0294836466854796 0.00650699178978326 0.044874078657663" />
            <mass value="1.25224595398726" />
            <inertia ixx="0.00206596064394956" ixy="-0.000334896166615364" ixz="0.000136948453654299" iyy="0.0035115970252851" iyz="-4.17254634185765E-05" izz="0.00431158338218049" />
        </inertial>
        <visual>
            <origin rpy="0 0 0" xyz="0 0 0" />
            <geometry>
                <mesh filename="package://poll_arm_left/meshes/box.STL" />
            </geometry>
            <material name="">
                <color rgba="0.792156862745098 0.819607843137255 0.933333333333333 1" />
            </material>
        </visual>
        <collision>
            <origin rpy="0 0 0" xyz="0 0 0" />
            <geometry>
                <mesh filename="package://poll_arm_left/meshes/box.STL" />
            </geometry>
        </collision>
    </link>
    <joint name="stickbug/arm3/slider" type="prismatic">
        <origin rpy="0 0 0" xyz="0 0 0" />
        <parent link="stickbug/drivebase/l_lift" />
        <child link="stickbug/arm3/box" />
        <axis xyz="0 0 1" />
        <limit effort="100" lower="0.01" upper="1.3" velocity=".5" />
        <dynamics damping="0.2" />
    </joint>
    <link name="stickbug/arm3/bicep">
        <inertial>
            <origin rpy="0 0 0" xyz="0.19577236492752 -0.0256170060224436 0.030251757517972" />
            <mass value="0.0881583450015477" />
            <inertia ixx="4.02190655717306E-05" ixy="9.41441514112841E-09" ixz="4.66388635592044E-08" iyy="2.35490419805005E-05" iyz="-9.36030697866667E-08" izz="3.32834464790013E-05" />
        </inertial>
        <visual>
            <origin rpy="0 0 0" xyz="0 0 0" />
            <geometry>
                <mesh filename="package://poll_arm_left/meshes/bicep.STL" />
            </geometry>
            <material name="">
                <color rgba="0.698039215686274 0.698039215686274 0.698039215686274 1" />
            </material>
        </visual>
        <collision>
            <origin rpy="0 0 0" xyz="0 0 0" />
            <geometry>
                <mesh filename="package://poll_arm_left/meshes/bicep.STL" />
            </geometry>
        </collision>
    </link>
    <joint name="stickbug/arm3/shoulder" type="revolute">
        <origin rpy="0 0 0.5236" xyz="0.10198 0.044401 0.019165" />
        <parent link="stickbug/arm3/box" />
        <child link="stickbug/arm3/bicep" />
        <axis xyz="0 0 1" />
        <limit effort="10" lower="-1.57" upper="1.57" velocity="1" />
        <dynamics damping="0.01" />
    </joint>
    <link name="stickbug/arm3/forearm">
        <inertial>
            <origin rpy="0 0 0" xyz="0.0765243373190795 0.00763087662935313 0.0278702986201432" />
            <mass value="0.0881583450015477" />
            <inertia ixx="4.02190655717306E-05" ixy="9.41441514112841E-09" ixz="4.66388635592044E-08" iyy="2.35490419805005E-05" iyz="-9.36030697866667E-08" izz="3.32834464790013E-05" />
        </inertial>
        <visual>
            <origin rpy="0 0 0" xyz="0 0 0" />
            <geometry>
                <mesh filename="package://poll_arm_left/meshes/forearm.STL" />
            </geometry>
            <material name="">
                <color rgba="0.698039215686274 0.698039215686274 0.698039215686274 1" />
            </material>
        </visual>
        <collision>
            <origin rpy="0 0 0" xyz="0 0 0" />
            <geometry>
                <mesh filename="package://poll_arm_left/meshes/forearm.STL" />
            </geometry>
        </collision>
    </link>
    <joint name="stickbug/arm3/elbow" type="revolute">
        <origin rpy="0 0 -1.5708" xyz="0.1959 -0.040686 0.0024841" />
        <parent link="stickbug/arm3/bicep" />
        <child link="stickbug/arm3/forearm" />
        <axis xyz="0 0 1" />
        <limit effort="10" lower="-1.57" upper="1.57" velocity="1" />
        <dynamics damping="0.01" />
    </joint>
    <link name="stickbug/arm3/w1_link">
        <inertial>
            <origin rpy="0 0 0" xyz="0.011999849295342 0.000549087822445393 0.0223834540031007" />
            <mass value="0.0565320862795783" />
            <inertia ixx="1.0226625085126E-05" ixy="-6.10475234166538E-10" ixz="7.97796107526984E-10" iyy="1.43894864274769E-05" iyz="3.44003507752819E-07" izz="1.4389503019841E-05" />
        </inertial>
        <visual>
            <origin rpy="0 0 0" xyz="0 0 0" />
            <geometry>
                <mesh filename="package://poll_arm_left/meshes/w1_link.STL" />
            </geometry>
            <material name="">
                <color rgba="0.792156862745098 0.819607843137255 0.933333333333333 1" />
            </material>
        </visual>
        <collision>
            <origin rpy="0 0 0" xyz="0 0 0" />
            <geometry>
                <mesh filename="package://poll_arm_left/meshes/w1_link.STL" />
            </geometry>
        </collision>
    </link>
    <joint name="stickbug/arm3/w1" type="revolute">
        <origin rpy="0 0 0" xyz="0.15435 0 0.0058612" />
        <parent link="stickbug/arm3/forearm" />
        <child link="stickbug/arm3/w1_link" />
        <axis xyz="0 0 1" />
        <limit effort="1" lower="-1.57" upper="1.57" velocity="1" />
        <dynamics damping="0.01" />
    </joint>
    <link name="stickbug/arm3/w2_link">
        <inertial>
            <origin rpy="0 0 0" xyz="0.0566451733011975 -0.00141725658574912 0.0284323416048119" />
            <mass value="0.153757182920479" />
            <inertia ixx="9.61201704567482E-05" ixy="-2.53181854057694E-06" ixz="1.28235405708061E-05" iyy="0.000113585627853035" iyz="-2.70973268265226E-06" izz="6.51970121574257E-05" />
        </inertial>
        <visual>
            <origin rpy="0 0 0" xyz="0 0 0" />
            <geometry>
                <mesh filename="package://poll_arm_left/meshes/w2_link.STL" />
            </geometry>
            <material name="">
                <color rgba="0.792156862745098 0.819607843137255 0.933333333333333 1" />
            </material>
        </visual>
        <collision>
            <origin rpy="0 0 0" xyz="0 0 0" />
            <geometry>
                <mesh filename="package://poll_arm_left/meshes/w2_link.STL" />
            </geometry>
        </collision>
    </link>
    <joint name="stickbug/arm3/w2" type="revolute">
        <origin rpy="-1.5708 0 0" xyz="0.024 -0.0222 0.021834" />
        <parent link="stickbug/arm3/w1_link" />
        <child link="stickbug/arm3/w2_link" />
        <axis xyz="0 0 1" />
        <limit effort="1" lower="-1.57" upper="1.57" velocity="1" />
        <dynamics damping="0.01" />
    </joint>
    <link name="stickbug/arm3/cam_link">
        <inertial>
            <origin rpy="0 0 0" xyz="-0.0113814657659481 -3.77656326211451E-08 -8.96828082673773E-05" />
            <mass value="0.039484046404376" />
            <inertia ixx="1.13008734896739E-05" ixy="-1.1840327216836E-12" ixz="-1.1184981555834E-08" iyy="7.34442345562825E-06" iyz="2.14724251253116E-11" izz="7.39890475454633E-06" />
        </inertial>
        <visual>
            <origin rpy="0 0 0" xyz="0 0 0" />
            <geometry>
                <mesh filename="package://poll_arm_left/meshes/cam_link.STL" />
            </geometry>
            <material name="">
                <color rgba="0.792156862745098 0.819607843137255 0.933333333333333 1" />
            </material>
        </visual>
        <collision>
            <origin rpy="0 0 0" xyz="0 0 0" />
            <geometry>
                <mesh filename="package://poll_arm_left/meshes/cam_link.STL" />
            </geometry>
        </collision>
    </link>
    <joint name="stickbug/arm3/cam_joint" type="fixed">
        <origin rpy="0 0.2618 0" xyz="0.063863 0 0.083432" />
        <parent link="stickbug/arm3/w2_link" />
        <child link="stickbug/arm3/cam_link" />
        <axis xyz="0 0 0" />
    </joint>
    <link name="stickbug/arm3/e1_link">
        <inertial>
            <origin rpy="0 0 0" xyz="0.00768377159854705 0.00530600599131281 -0.000730992899423188" />
            <mass value="0.00225996756513805" />
            <inertia ixx="1.30412723697187E-07" ixy="9.73218559749733E-08" ixz="2.16169394663049E-08" iyy="1.966205244536E-07" iyz="-1.2986245459416E-08" izz="3.15647081687985E-07" />
        </inertial>
        <visual>
            <origin rpy="0 0 0" xyz="0 0 0" />
            <geometry>
                <mesh filename="package://poll_arm_left/meshes/e1_link.STL" />
            </geometry>
            <material name="">
                <color rgba="0.792156862745098 0.819607843137255 0.933333333333333 1" />
            </material>
        </visual>
        <collision>
            <origin rpy="0 0 0" xyz="0 0 0" />
            <geometry>
                <mesh filename="package://poll_arm_left/meshes/e1_link.STL" />
            </geometry>
        </collision>
    </link>
    <joint name="stickbug/arm3/e1" type="revolute">
        <origin rpy="-1.0472 0 0" xyz="0.077 0.011263 0.0070007" />
        <parent link="stickbug/arm3/w2_link" />
        <child link="stickbug/arm3/e1_link" />
        <axis xyz="0 0 1" />
        <limit effort=".01" lower="-1.57" upper="1.57" velocity="1" />
        <dynamics damping="0.01" />
    </joint>
    <link name="stickbug/arm3/e2_link">
        <inertial>
            <origin rpy="0 0 0" xyz="0.00768377159939804 0.00530600599028475 -0.000730992897713945" />
            <mass value="0.00225996756505407" />
            <inertia ixx="1.30412723709295E-07" ixy="9.73218559904026E-08" ixz="2.16169394327849E-08" iyy="1.96620524444531E-07" iyz="-1.2986245443103E-08" izz="3.15647081713528E-07" />
        </inertial>
        <visual>
            <origin rpy="0 0 0" xyz="0 0 0" />
            <geometry>
                <mesh filename="package://poll_arm_left/meshes/e2_link.STL" />
            </geometry>
            <material name="">
                <color rgba="0.250980392156863 0.250980392156863 0.250980392156863 1" />
            </material>
        </visual>
        <collision>
            <origin rpy="0 0 0" xyz="0 0 0" />
            <geometry>
                <mesh filename="package://poll_arm_left/meshes/e2_link.STL" />
            </geometry>
        </collision>
    </link>
    <joint name="stickbug/arm3/e2" type="revolute">
        <origin rpy="1.0472 0 0" xyz="0.077 0.0074446 0.039404" />
        <parent link="stickbug/arm3/w2_link" />
        <child link="stickbug/arm3/e2_link" />
        <axis xyz="0 0 1" />
        <limit effort=".01" lower="-1.57" upper="1.57" velocity="1" />
        <dynamics damping="0.01" />
    </joint>
    <link name="stickbug/arm3/e3_link">
        <inertial>
            <origin rpy="0 0 0" xyz="0.00768377159880085 0.00530600599161343 -0.000730992902174321" />
            <mass value="0.00225996756527347" />
            <inertia ixx="1.30412723718879E-07" ixy="9.73218559573204E-08" ixz="2.16169395180174E-08" iyy="1.96620524429933E-07" iyz="-1.2986245490849E-08" izz="3.15647081641822E-07" />
        </inertial>
        <visual>
            <origin rpy="0 0 0" xyz="0 0 0" />
            <geometry>
                <mesh filename="package://poll_arm_left/meshes/e3_link.STL" />
            </geometry>
            <material name="">
                <color rgba="0.250980392156863 0.250980392156863 0.250980392156863 1" />
            </material>
        </visual>
        <collision>
            <origin rpy="0 0 0" xyz="0 0 0" />
            <geometry>
                <mesh filename="package://poll_arm_left/meshes/e3_link.STL" />
            </geometry>
        </collision>
    </link>
    <joint name="stickbug/arm3/e3" type="revolute">
        <origin rpy="3.1416 0 0" xyz="0.077 -0.018708 0.019895" />
        <parent link="stickbug/arm3/w2_link" />
        <child link="stickbug/arm3/e3_link" />
        <axis xyz="0 0 1" />
        <limit effort=".01" lower="-1.57" upper="1.57" velocity="1" />
        <dynamics damping="0.01" />
    </joint>
    <link name="stickbug/arm3/end_link">
        <inertial>
            <origin rpy="0 0 0" xyz="-0.00224236893916069 3.51872006532084E-08 -3.59307918973428E-08" />
            <mass value="0.00244973338644465" />
            <inertia ixx="2.1728168358708E-07" ixy="-1.95917302130553E-13" ixz="3.07605742817941E-13" iyy="1.14231479742372E-07" iyz="9.90134628383345E-13" izz="1.14231411420646E-07" />
        </inertial>
        <visual>
            <origin rpy="0 0 0" xyz="0 0 0" />
            <geometry>
                <mesh filename="package://poll_arm_left/meshes/end_link.STL" />
            </geometry>
            <material name="">
                <color rgba="0.792156862745098 0.819607843137255 0.933333333333333 1" />
            </material>
        </visual>
        <collision>
            <origin rpy="0 0 0" xyz="0 0 0" />
            <geometry>
                <mesh filename="package://poll_arm_left/meshes/end_link.STL" />
            </geometry>
        </collision>
    </link>
    <joint name="stickbug/arm3/end_joint" type="fixed">
        <origin rpy="1.5708 0 0" xyz="0.12293 0 0.0221" />
        <parent link="stickbug/arm3/w2_link" />
        <child link="stickbug/arm3/end_link" />
        <axis xyz="0 0 0" />
    </joint>
    <link name="stickbug/arm3/camera_frame" />
    <joint name="stickbug/arm3/cam_link2cam_frame" type="fixed">
        <parent link="stickbug/arm3/cam_link" />
        <child link="stickbug/arm3/camera_frame" />
        <origin rpy="-1.57 0.0 -1.57" xyz="0.0 0.0 0.0" />
    </joint>
    <transmission name="stickbug/arm3/trans_slider">
        <type>transmission_interface/SimpleTransmission</type>
        <joint name="stickbug/arm3/slider">
            <hardwareInterface>hardware_interface/EffortJointInterface</hardwareInterface>
        </joint>
        <actuator name="stickbug/arm3/slider_motor">
            <hardwareInterface>hardware_interface/EffortJointInterface</hardwareInterface>
            <mechanicalReduction>1</mechanicalReduction>
        </actuator>
    </transmission>
    <transmission name="stickbug/arm3/trans_shoulder">
        <type>transmission_interface/SimpleTransmission</type>
        <joint name="stickbug/arm3/shoulder">
            <hardwareInterface>hardware_interface/EffortJointInterface</hardwareInterface>
        </joint>
        <actuator name="stickbug/arm3/shoulder_motor">
            <hardwareInterface>hardware_interface/EffortJointInterface</hardwareInterface>
            <mechanicalReduction>1</mechanicalReduction>
        </actuator>
    </transmission>
    <transmission name="stickbug/arm3/trans_elbow">
        <type>transmission_interface/SimpleTransmission</type>
        <joint name="stickbug/arm3/elbow">
            <hardwareInterface>hardware_interface/EffortJointInterface</hardwareInterface>
        </joint>
        <actuator name="stickbug/arm3/elbow_motor">
            <hardwareInterface>hardware_interface/EffortJointInterface</hardwareInterface>
            <mechanicalReduction>1</mechanicalReduction>
        </actuator>
    </transmission>
    <transmission name="stickbug/arm3/trans_w1">
        <type>transmission_interface/SimpleTransmission</type>
        <joint name="stickbug/arm3/w1">
            <hardwareInterface>hardware_interface/EffortJointInterface</hardwareInterface>
        </joint>
        <actuator name="stickbug/arm3/w1_motor">
            <hardwareInterface>hardware_interface/EffortJointInterface</hardwareInterface>
            <mechanicalReduction>1</mechanicalReduction>
        </actuator>
    </transmission>
    <transmission name="stickbug/arm3/trans_w2">
        <type>transmission_interface/SimpleTransmission</type>
        <joint name="stickbug/arm3/w2">
            <hardwareInterface>hardware_interface/EffortJointInterface</hardwareInterface>
        </joint>
        <actuator name="stickbug/arm3/w2_motor">
            <hardwareInterface>hardware_interface/EffortJointInterface</hardwareInterface>
            <mechanicalReduction>1</mechanicalReduction>
        </actuator>
    </transmission>
    <transmission name="stickbug/arm3/trans_e1">
        <type>transmission_interface/SimpleTransmission</type>
        <joint name="stickbug/arm3/e1">
            <hardwareInterface>hardware_interface/EffortJointInterface</hardwareInterface>
        </joint>
        <actuator name="stickbug/arm3/e1_motor">
            <hardwareInterface>hardware_interface/EffortJointInterface</hardwareInterface>
            <mechanicalReduction>1</mechanicalReduction>
        </actuator>
    </transmission>
    <transmission name="stickbug/arm3/trans_e2">
        <type>transmission_interface/SimpleTransmission</type>
        <joint name="stickbug/arm3/e2">
            <hardwareInterface>hardware_interface/EffortJointInterface</hardwareInterface>
        </joint>
        <actuator name="stickbug/arm3/e2_motor">
            <hardwareInterface>hardware_interface/EffortJointInterface</hardwareInterface>
            <mechanicalReduction>1</mechanicalReduction>
        </actuator>
    </transmission>
    <transmission name="stickbug/arm3/trans_e3">
        <type>transmission_interface/SimpleTransmission</type>
        <joint name="stickbug/arm3/e3">
            <hardwareInterface>hardware_interface/EffortJointInterface</hardwareInterface>
        </joint>
        <actuator name="stickbug/arm3/e3_motor">
            <hardwareInterface>hardware_interface/EffortJointInterface</hardwareInterface>
            <mechanicalReduction>1</mechanicalReduction>
        </actuator>
    </transmission>
    <!--================================ right realsense plugin ================================-->
    <gazebo reference="stickbug/arm3/cam_link">
        <sensor name="stickbug/arm3/cam_link_camera" type="depth">
            <update_rate>20</update_rate>
            <camera>
                <horizontal_fov>1.047198</horizontal_fov>
                <image>
                    <width>640</width>
                    <height>480</height>
                    <format>R8G8B8</format>
                </image>
                <clip>
                    <near>0.05</near>
                    <far>3</far>
                </clip>
            </camera>
            <plugin filename="libgazebo_ros_openni_kinect.so" name="stickbug/arm3/cam_link_controller">
                <baseline>0.2</baseline>
                <alwaysOn>true</alwaysOn>
                <updateRate>1.0</updateRate>
                <cameraName>stickbug/arm3/cam_link</cameraName>
                <imageTopicName>color/image_raw</imageTopicName>
                <cameraInfoTopicName>color/camera_info</cameraInfoTopicName>
                <depthImageTopicName>depth/image_raw</depthImageTopicName>
                <depthImageInfoTopicName>depth/camera_info</depthImageInfoTopicName>
                <pointCloudTopicName>depth/points</pointCloudTopicName>
                <frameName>stickbug/arm3/camera_frame</frameName>
                <pointCloudCutoff>0.5</pointCloudCutoff>
                <pointCloudCutoffMax>3.0</pointCloudCutoffMax>
                <distortionK1>0.00000001</distortionK1>
                <distortionK2>0.00000001</distortionK2>
                <distortionK3>0.00000001</distortionK3>
                <distortionT1>0.00000001</distortionT1>
                <distortionT2>0.00000001</distortionT2>
                <CxPrime>0</CxPrime>
                <Cx>0</Cx>
                <Cy>0</Cy>
                <focalLength>0</focalLength>
                <hackBaseline>0</hackBaseline>
            </plugin>
        </sensor>
    </gazebo>
    <!--joint name="${ns}/lift2base" type="fixed">
      <parent link="${parent_link}"/>
      <child link="${ns}/base"/>
      <axis xyz="0 0 0" />
      <origin rpy="0 0 0" xyz="0 0 0"/>
    </joint>

    <link
      name="${ns}/base">
      <inertial>
      <origin xyz="0 0 0" rpy="0 0 0"/>
      <mass value=".0001"/>
      <inertia
        ixx="0.0001" ixy="0.0001" ixz="0.0001"
        iyy="0.0001" iyz="0.0001"
        izz="0.0001"/>
      </inertial>
    </link>-->
    <link name="stickbug/arm5/box">
        <inertial>
            <origin rpy="0 0 0" xyz="-0.0294836466854796 0.00650699178978326 0.044874078657663" />
            <mass value="1.25224595398726" />
            <inertia ixx="0.00206596064394956" ixy="-0.000334896166615364" ixz="0.000136948453654299" iyy="0.0035115970252851" iyz="-4.17254634185765E-05" izz="0.00431158338218049" />
        </inertial>
        <visual>
            <origin rpy="0 0 0" xyz="0 0 0" />
            <geometry>
                <mesh filename="package://poll_arm_left/meshes/box.STL" />
            </geometry>
            <material name="">
                <color rgba="0.792156862745098 0.819607843137255 0.933333333333333 1" />
            </material>
        </visual>
        <collision>
            <origin rpy="0 0 0" xyz="0 0 0" />
            <geometry>
                <mesh filename="package://poll_arm_left/meshes/box.STL" />
            </geometry>
        </collision>
    </link>
    <joint name="stickbug/arm5/slider" type="prismatic">
        <origin rpy="0 0 0" xyz="0 0 0" />
        <parent link="stickbug/drivebase/l_lift" />
        <child link="stickbug/arm5/box" />
        <axis xyz="0 0 1" />
        <limit effort="100" lower="0.01" upper="1.3" velocity=".5" />
        <dynamics damping="0.2" />
    </joint>
    <link name="stickbug/arm5/bicep">
        <inertial>
            <origin rpy="0 0 0" xyz="0.19577236492752 -0.0256170060224436 0.030251757517972" />
            <mass value="0.0881583450015477" />
            <inertia ixx="4.02190655717306E-05" ixy="9.41441514112841E-09" ixz="4.66388635592044E-08" iyy="2.35490419805005E-05" iyz="-9.36030697866667E-08" izz="3.32834464790013E-05" />
        </inertial>
        <visual>
            <origin rpy="0 0 0" xyz="0 0 0" />
            <geometry>
                <mesh filename="package://poll_arm_left/meshes/bicep.STL" />
            </geometry>
            <material name="">
                <color rgba="0.698039215686274 0.698039215686274 0.698039215686274 1" />
            </material>
        </visual>
        <collision>
            <origin rpy="0 0 0" xyz="0 0 0" />
            <geometry>
                <mesh filename="package://poll_arm_left/meshes/bicep.STL" />
            </geometry>
        </collision>
    </link>
    <joint name="stickbug/arm5/shoulder" type="revolute">
        <origin rpy="0 0 0.5236" xyz="0.10198 0.044401 0.019165" />
        <parent link="stickbug/arm5/box" />
        <child link="stickbug/arm5/bicep" />
        <axis xyz="0 0 1" />
        <limit effort="10" lower="-1.57" upper="1.57" velocity="1" />
        <dynamics damping="0.01" />
    </joint>
    <link name="stickbug/arm5/forearm">
        <inertial>
            <origin rpy="0 0 0" xyz="0.0765243373190795 0.00763087662935313 0.0278702986201432" />
            <mass value="0.0881583450015477" />
            <inertia ixx="4.02190655717306E-05" ixy="9.41441514112841E-09" ixz="4.66388635592044E-08" iyy="2.35490419805005E-05" iyz="-9.36030697866667E-08" izz="3.32834464790013E-05" />
        </inertial>
        <visual>
            <origin rpy="0 0 0" xyz="0 0 0" />
            <geometry>
                <mesh filename="package://poll_arm_left/meshes/forearm.STL" />
            </geometry>
            <material name="">
                <color rgba="0.698039215686274 0.698039215686274 0.698039215686274 1" />
            </material>
        </visual>
        <collision>
            <origin rpy="0 0 0" xyz="0 0 0" />
            <geometry>
                <mesh filename="package://poll_arm_left/meshes/forearm.STL" />
            </geometry>
        </collision>
    </link>
    <joint name="stickbug/arm5/elbow" type="revolute">
        <origin rpy="0 0 -1.5708" xyz="0.1959 -0.040686 0.0024841" />
        <parent link="stickbug/arm5/bicep" />
        <child link="stickbug/arm5/forearm" />
        <axis xyz="0 0 1" />
        <limit effort="10" lower="-1.57" upper="1.57" velocity="1" />
        <dynamics damping="0.01" />
    </joint>
    <link name="stickbug/arm5/w1_link">
        <inertial>
            <origin rpy="0 0 0" xyz="0.011999849295342 0.000549087822445393 0.0223834540031007" />
            <mass value="0.0565320862795783" />
            <inertia ixx="1.0226625085126E-05" ixy="-6.10475234166538E-10" ixz="7.97796107526984E-10" iyy="1.43894864274769E-05" iyz="3.44003507752819E-07" izz="1.4389503019841E-05" />
        </inertial>
        <visual>
            <origin rpy="0 0 0" xyz="0 0 0" />
            <geometry>
                <mesh filename="package://poll_arm_left/meshes/w1_link.STL" />
            </geometry>
            <material name="">
                <color rgba="0.792156862745098 0.819607843137255 0.933333333333333 1" />
            </material>
        </visual>
        <collision>
            <origin rpy="0 0 0" xyz="0 0 0" />
            <geometry>
                <mesh filename="package://poll_arm_left/meshes/w1_link.STL" />
            </geometry>
        </collision>
    </link>
    <joint name="stickbug/arm5/w1" type="revolute">
        <origin rpy="0 0 0" xyz="0.15435 0 0.0058612" />
        <parent link="stickbug/arm5/forearm" />
        <child link="stickbug/arm5/w1_link" />
        <axis xyz="0 0 1" />
        <limit effort="1" lower="-1.57" upper="1.57" velocity="1" />
        <dynamics damping="0.01" />
    </joint>
    <link name="stickbug/arm5/w2_link">
        <inertial>
            <origin rpy="0 0 0" xyz="0.0566451733011975 -0.00141725658574912 0.0284323416048119" />
            <mass value="0.153757182920479" />
            <inertia ixx="9.61201704567482E-05" ixy="-2.53181854057694E-06" ixz="1.28235405708061E-05" iyy="0.000113585627853035" iyz="-2.70973268265226E-06" izz="6.51970121574257E-05" />
        </inertial>
        <visual>
            <origin rpy="0 0 0" xyz="0 0 0" />
            <geometry>
                <mesh filename="package://poll_arm_left/meshes/w2_link.STL" />
            </geometry>
            <material name="">
                <color rgba="0.792156862745098 0.819607843137255 0.933333333333333 1" />
            </material>
        </visual>
        <collision>
            <origin rpy="0 0 0" xyz="0 0 0" />
            <geometry>
                <mesh filename="package://poll_arm_left/meshes/w2_link.STL" />
            </geometry>
        </collision>
    </link>
    <joint name="stickbug/arm5/w2" type="revolute">
        <origin rpy="-1.5708 0 0" xyz="0.024 -0.0222 0.021834" />
        <parent link="stickbug/arm5/w1_link" />
        <child link="stickbug/arm5/w2_link" />
        <axis xyz="0 0 1" />
        <limit effort="1" lower="-1.57" upper="1.57" velocity="1" />
        <dynamics damping="0.01" />
    </joint>
    <link name="stickbug/arm5/cam_link">
        <inertial>
            <origin rpy="0 0 0" xyz="-0.0113814657659481 -3.77656326211451E-08 -8.96828082673773E-05" />
            <mass value="0.039484046404376" />
            <inertia ixx="1.13008734896739E-05" ixy="-1.1840327216836E-12" ixz="-1.1184981555834E-08" iyy="7.34442345562825E-06" iyz="2.14724251253116E-11" izz="7.39890475454633E-06" />
        </inertial>
        <visual>
            <origin rpy="0 0 0" xyz="0 0 0" />
            <geometry>
                <mesh filename="package://poll_arm_left/meshes/cam_link.STL" />
            </geometry>
            <material name="">
                <color rgba="0.792156862745098 0.819607843137255 0.933333333333333 1" />
            </material>
        </visual>
        <collision>
            <origin rpy="0 0 0" xyz="0 0 0" />
            <geometry>
                <mesh filename="package://poll_arm_left/meshes/cam_link.STL" />
            </geometry>
        </collision>
    </link>
    <joint name="stickbug/arm5/cam_joint" type="fixed">
        <origin rpy="0 0.2618 0" xyz="0.063863 0 0.083432" />
        <parent link="stickbug/arm5/w2_link" />
        <child link="stickbug/arm5/cam_link" />
        <axis xyz="0 0 0" />
    </joint>
    <link name="stickbug/arm5/e1_link">
        <inertial>
            <origin rpy="0 0 0" xyz="0.00768377159854705 0.00530600599131281 -0.000730992899423188" />
            <mass value="0.00225996756513805" />
            <inertia ixx="1.30412723697187E-07" ixy="9.73218559749733E-08" ixz="2.16169394663049E-08" iyy="1.966205244536E-07" iyz="-1.2986245459416E-08" izz="3.15647081687985E-07" />
        </inertial>
        <visual>
            <origin rpy="0 0 0" xyz="0 0 0" />
            <geometry>
                <mesh filename="package://poll_arm_left/meshes/e1_link.STL" />
            </geometry>
            <material name="">
                <color rgba="0.792156862745098 0.819607843137255 0.933333333333333 1" />
            </material>
        </visual>
        <collision>
            <origin rpy="0 0 0" xyz="0 0 0" />
            <geometry>
                <mesh filename="package://poll_arm_left/meshes/e1_link.STL" />
            </geometry>
        </collision>
    </link>
    <joint name="stickbug/arm5/e1" type="revolute">
        <origin rpy="-1.0472 0 0" xyz="0.077 0.011263 0.0070007" />
        <parent link="stickbug/arm5/w2_link" />
        <child link="stickbug/arm5/e1_link" />
        <axis xyz="0 0 1" />
        <limit effort=".01" lower="-1.57" upper="1.57" velocity="1" />
        <dynamics damping="0.01" />
    </joint>
    <link name="stickbug/arm5/e2_link">
        <inertial>
            <origin rpy="0 0 0" xyz="0.00768377159939804 0.00530600599028475 -0.000730992897713945" />
            <mass value="0.00225996756505407" />
            <inertia ixx="1.30412723709295E-07" ixy="9.73218559904026E-08" ixz="2.16169394327849E-08" iyy="1.96620524444531E-07" iyz="-1.2986245443103E-08" izz="3.15647081713528E-07" />
        </inertial>
        <visual>
            <origin rpy="0 0 0" xyz="0 0 0" />
            <geometry>
                <mesh filename="package://poll_arm_left/meshes/e2_link.STL" />
            </geometry>
            <material name="">
                <color rgba="0.250980392156863 0.250980392156863 0.250980392156863 1" />
            </material>
        </visual>
        <collision>
            <origin rpy="0 0 0" xyz="0 0 0" />
            <geometry>
                <mesh filename="package://poll_arm_left/meshes/e2_link.STL" />
            </geometry>
        </collision>
    </link>
    <joint name="stickbug/arm5/e2" type="revolute">
        <origin rpy="1.0472 0 0" xyz="0.077 0.0074446 0.039404" />
        <parent link="stickbug/arm5/w2_link" />
        <child link="stickbug/arm5/e2_link" />
        <axis xyz="0 0 1" />
        <limit effort=".01" lower="-1.57" upper="1.57" velocity="1" />
        <dynamics damping="0.01" />
    </joint>
    <link name="stickbug/arm5/e3_link">
        <inertial>
            <origin rpy="0 0 0" xyz="0.00768377159880085 0.00530600599161343 -0.000730992902174321" />
            <mass value="0.00225996756527347" />
            <inertia ixx="1.30412723718879E-07" ixy="9.73218559573204E-08" ixz="2.16169395180174E-08" iyy="1.96620524429933E-07" iyz="-1.2986245490849E-08" izz="3.15647081641822E-07" />
        </inertial>
        <visual>
            <origin rpy="0 0 0" xyz="0 0 0" />
            <geometry>
                <mesh filename="package://poll_arm_left/meshes/e3_link.STL" />
            </geometry>
            <material name="">
                <color rgba="0.250980392156863 0.250980392156863 0.250980392156863 1" />
            </material>
        </visual>
        <collision>
            <origin rpy="0 0 0" xyz="0 0 0" />
            <geometry>
                <mesh filename="package://poll_arm_left/meshes/e3_link.STL" />
            </geometry>
        </collision>
    </link>
    <joint name="stickbug/arm5/e3" type="revolute">
        <origin rpy="3.1416 0 0" xyz="0.077 -0.018708 0.019895" />
        <parent link="stickbug/arm5/w2_link" />
        <child link="stickbug/arm5/e3_link" />
        <axis xyz="0 0 1" />
        <limit effort=".01" lower="-1.57" upper="1.57" velocity="1" />
        <dynamics damping="0.01" />
    </joint>
    <link name="stickbug/arm5/end_link">
        <inertial>
            <origin rpy="0 0 0" xyz="-0.00224236893916069 3.51872006532084E-08 -3.59307918973428E-08" />
            <mass value="0.00244973338644465" />
            <inertia ixx="2.1728168358708E-07" ixy="-1.95917302130553E-13" ixz="3.07605742817941E-13" iyy="1.14231479742372E-07" iyz="9.90134628383345E-13" izz="1.14231411420646E-07" />
        </inertial>
        <visual>
            <origin rpy="0 0 0" xyz="0 0 0" />
            <geometry>
                <mesh filename="package://poll_arm_left/meshes/end_link.STL" />
            </geometry>
            <material name="">
                <color rgba="0.792156862745098 0.819607843137255 0.933333333333333 1" />
            </material>
        </visual>
        <collision>
            <origin rpy="0 0 0" xyz="0 0 0" />
            <geometry>
                <mesh filename="package://poll_arm_left/meshes/end_link.STL" />
            </geometry>
        </collision>
    </link>
    <joint name="stickbug/arm5/end_joint" type="fixed">
        <origin rpy="1.5708 0 0" xyz="0.12293 0 0.0221" />
        <parent link="stickbug/arm5/w2_link" />
        <child link="stickbug/arm5/end_link" />
        <axis xyz="0 0 0" />
    </joint>
    <link name="stickbug/arm5/camera_frame" />
    <joint name="stickbug/arm5/cam_link2cam_frame" type="fixed">
        <parent link="stickbug/arm5/cam_link" />
        <child link="stickbug/arm5/camera_frame" />
        <origin rpy="-1.57 0.0 -1.57" xyz="0.0 0.0 0.0" />
    </joint>
    <transmission name="stickbug/arm5/trans_slider">
        <type>transmission_interface/SimpleTransmission</type>
        <joint name="stickbug/arm5/slider">
            <hardwareInterface>hardware_interface/EffortJointInterface</hardwareInterface>
        </joint>
        <actuator name="stickbug/arm5/slider_motor">
            <hardwareInterface>hardware_interface/EffortJointInterface</hardwareInterface>
            <mechanicalReduction>1</mechanicalReduction>
        </actuator>
    </transmission>
    <transmission name="stickbug/arm5/trans_shoulder">
        <type>transmission_interface/SimpleTransmission</type>
        <joint name="stickbug/arm5/shoulder">
            <hardwareInterface>hardware_interface/EffortJointInterface</hardwareInterface>
        </joint>
        <actuator name="stickbug/arm5/shoulder_motor">
            <hardwareInterface>hardware_interface/EffortJointInterface</hardwareInterface>
            <mechanicalReduction>1</mechanicalReduction>
        </actuator>
    </transmission>
    <transmission name="stickbug/arm5/trans_elbow">
        <type>transmission_interface/SimpleTransmission</type>
        <joint name="stickbug/arm5/elbow">
            <hardwareInterface>hardware_interface/EffortJointInterface</hardwareInterface>
        </joint>
        <actuator name="stickbug/arm5/elbow_motor">
            <hardwareInterface>hardware_interface/EffortJointInterface</hardwareInterface>
            <mechanicalReduction>1</mechanicalReduction>
        </actuator>
    </transmission>
    <transmission name="stickbug/arm5/trans_w1">
        <type>transmission_interface/SimpleTransmission</type>
        <joint name="stickbug/arm5/w1">
            <hardwareInterface>hardware_interface/EffortJointInterface</hardwareInterface>
        </joint>
        <actuator name="stickbug/arm5/w1_motor">
            <hardwareInterface>hardware_interface/EffortJointInterface</hardwareInterface>
            <mechanicalReduction>1</mechanicalReduction>
        </actuator>
    </transmission>
    <transmission name="stickbug/arm5/trans_w2">
        <type>transmission_interface/SimpleTransmission</type>
        <joint name="stickbug/arm5/w2">
            <hardwareInterface>hardware_interface/EffortJointInterface</hardwareInterface>
        </joint>
        <actuator name="stickbug/arm5/w2_motor">
            <hardwareInterface>hardware_interface/EffortJointInterface</hardwareInterface>
            <mechanicalReduction>1</mechanicalReduction>
        </actuator>
    </transmission>
    <transmission name="stickbug/arm5/trans_e1">
        <type>transmission_interface/SimpleTransmission</type>
        <joint name="stickbug/arm5/e1">
            <hardwareInterface>hardware_interface/EffortJointInterface</hardwareInterface>
        </joint>
        <actuator name="stickbug/arm5/e1_motor">
            <hardwareInterface>hardware_interface/EffortJointInterface</hardwareInterface>
            <mechanicalReduction>1</mechanicalReduction>
        </actuator>
    </transmission>
    <transmission name="stickbug/arm5/trans_e2">
        <type>transmission_interface/SimpleTransmission</type>
        <joint name="stickbug/arm5/e2">
            <hardwareInterface>hardware_interface/EffortJointInterface</hardwareInterface>
        </joint>
        <actuator name="stickbug/arm5/e2_motor">
            <hardwareInterface>hardware_interface/EffortJointInterface</hardwareInterface>
            <mechanicalReduction>1</mechanicalReduction>
        </actuator>
    </transmission>
    <transmission name="stickbug/arm5/trans_e3">
        <type>transmission_interface/SimpleTransmission</type>
        <joint name="stickbug/arm5/e3">
            <hardwareInterface>hardware_interface/EffortJointInterface</hardwareInterface>
        </joint>
        <actuator name="stickbug/arm5/e3_motor">
            <hardwareInterface>hardware_interface/EffortJointInterface</hardwareInterface>
            <mechanicalReduction>1</mechanicalReduction>
        </actuator>
    </transmission>
    <!--================================ right realsense plugin ================================-->
    <gazebo reference="stickbug/arm5/cam_link">
        <sensor name="stickbug/arm5/cam_link_camera" type="depth">
            <update_rate>20</update_rate>
            <camera>
                <horizontal_fov>1.047198</horizontal_fov>
                <image>
                    <width>640</width>
                    <height>480</height>
                    <format>R8G8B8</format>
                </image>
                <clip>
                    <near>0.05</near>
                    <far>3</far>
                </clip>
            </camera>
            <plugin filename="libgazebo_ros_openni_kinect.so" name="stickbug/arm5/cam_link_controller">
                <baseline>0.2</baseline>
                <alwaysOn>true</alwaysOn>
                <updateRate>1.0</updateRate>
                <cameraName>stickbug/arm5/cam_link</cameraName>
                <imageTopicName>color/image_raw</imageTopicName>
                <cameraInfoTopicName>color/camera_info</cameraInfoTopicName>
                <depthImageTopicName>depth/image_raw</depthImageTopicName>
                <depthImageInfoTopicName>depth/camera_info</depthImageInfoTopicName>
                <pointCloudTopicName>depth/points</pointCloudTopicName>
                <frameName>stickbug/arm5/camera_frame</frameName>
                <pointCloudCutoff>0.5</pointCloudCutoff>
                <pointCloudCutoffMax>3.0</pointCloudCutoffMax>
                <distortionK1>0.00000001</distortionK1>
                <distortionK2>0.00000001</distortionK2>
                <distortionK3>0.00000001</distortionK3>
                <distortionT1>0.00000001</distortionT1>
                <distortionT2>0.00000001</distortionT2>
                <CxPrime>0</CxPrime>
                <Cx>0</Cx>
                <Cy>0</Cy>
                <focalLength>0</focalLength>
                <hackBaseline>0</hackBaseline>
            </plugin>
        </sensor>
    </gazebo>
    <link name="stickbug/arm2/box">
        <inertial>
            <origin rpy="0 0 0" xyz="-0.0294836466854795 -0.00650699178978333 0.054665921342337" />
            <mass value="1.25224595398726" />
            <inertia ixx="0.00206596064394956" ixy="0.000334896166615364" ixz="-0.000136948453654299" iyy="0.0035115970252851" iyz="-4.17254634185766E-05" izz="0.00431158338218049" />
        </inertial>
        <visual>
            <origin rpy="0 0 0" xyz="0 0 0" />
            <geometry>
                <mesh filename="package://poll_arm_right/meshes/box.STL" />
            </geometry>
            <material name="">
                <color rgba="0.792156862745098 0.819607843137255 0.933333333333333 1" />
            </material>
        </visual>
        <collision>
            <origin rpy="0 0 0" xyz="0 0 0" />
            <geometry>
                <mesh filename="package://poll_arm_right/meshes/box.STL" />
            </geometry>
        </collision>
    </link>
    <joint name="stickbug/arm2/slider" type="prismatic">
        <origin rpy="0 0 0" xyz="0 0 0" />
        <parent link="stickbug/drivebase/r_lift" />
        <child link="stickbug/arm2/box" />
        <axis xyz="0 0 1" />
        <limit effort="200" lower="0" upper="2" velocity="0" />
        <dynamics damping="0.2" friction="0.2" />
    </joint>
    <link name="stickbug/arm2/bicep">
        <inertial>
            <origin rpy="0 0 0" xyz="0.19577236492752 0.025617006022445 0.031470242482028" />
            <mass value="0.0881583450015477" />
            <inertia ixx="4.02190655717306E-05" ixy="-9.41441514101079E-09" ixz="-4.66388635592039E-08" iyy="2.35490419805005E-05" iyz="-9.36030697866667E-08" izz="3.32834464790013E-05" />
        </inertial>
        <visual>
            <origin rpy="0 0 0" xyz="0 0 0" />
            <geometry>
                <mesh filename="package://poll_arm_right/meshes/bicep.STL" />
            </geometry>
            <material name="">
                <color rgba="0.698039215686274 0.698039215686274 0.698039215686274 1" />
            </material>
        </visual>
        <collision>
            <origin rpy="0 0 0" xyz="0 0 0" />
            <geometry>
                <mesh filename="package://poll_arm_right/meshes/bicep.STL" />
            </geometry>
        </collision>
    </link>
    <joint name="stickbug/arm2/shoulder" type="revolute">
        <origin rpy="0 0 -0.523598775598304" xyz="0.101983673651571 -0.0444010956927517 0.0186529999998991" />
        <parent link="stickbug/arm2/box" />
        <child link="stickbug/arm2/bicep" />
        <axis xyz="0 0 1" />
        <limit effort="200" lower="-1.57" upper="1.57" velocity="0" />
        <dynamics damping="0.2" friction="0.2" />
    </joint>
    <link name="stickbug/arm2/forearm">
        <inertial>
            <origin rpy="0 0 0" xyz="0.0765243373190801 -0.00763087662935313 0.0278615390492158" />
            <mass value="0.0881583450015477" />
            <inertia ixx="4.02190655717306E-05" ixy="-9.41441514101079E-09" ixz="-4.66388635592039E-08" iyy="2.35490419805005E-05" iyz="-9.36030697866667E-08" izz="3.32834464790013E-05" />
        </inertial>
        <visual>
            <origin rpy="0 0 0" xyz="0 0 0" />
            <geometry>
                <mesh filename="package://poll_arm_right/meshes/forearm.STL" />
            </geometry>
            <material name="">
                <color rgba="0.698039215686274 0.698039215686274 0.698039215686274 1" />
            </material>
        </visual>
        <collision>
            <origin rpy="0 0 0" xyz="0 0 0" />
            <geometry>
                <mesh filename="package://poll_arm_right/meshes/forearm.STL" />
            </geometry>
        </collision>
    </link>
    <joint name="stickbug/arm2/elbow" type="revolute">
        <origin rpy="0 0 1.5707963267949" xyz="0.1959 0.0406860000000015 0.00350608116532053" />
        <parent link="stickbug/arm2/bicep" />
        <child link="stickbug/arm2/forearm" />
        <axis xyz="0 0 1" />
        <limit effort="200" lower="-1.57" upper="1.57" velocity="0" />
        <dynamics damping="0.2" friction="0.2" />
    </joint>
    <link name="stickbug/arm2/w1_link">
        <inertial>
            <origin rpy="0 0 0" xyz="0.0119998492953422 -0.000549087822445449 0.0216260058358662" />
            <mass value="0.0565320862795783" />
            <inertia ixx="1.0226625085126E-05" ixy="6.10475234160948E-10" ixz="-7.97796107526925E-10" iyy="1.43894864274769E-05" iyz="3.44003507752819E-07" izz="1.4389503019841E-05" />
        </inertial>
        <visual>
            <origin rpy="0 0 0" xyz="0 0 0" />
            <geometry>
                <mesh filename="package://poll_arm_right/meshes/w1_link.STL" />
            </geometry>
            <material name="">
                <color rgba="0.792156862745098 0.819607843137255 0.933333333333333 1" />
            </material>
        </visual>
        <collision>
            <origin rpy="0 0 0" xyz="0 0 0" />
            <geometry>
                <mesh filename="package://poll_arm_right/meshes/w1_link.STL" />
            </geometry>
        </collision>
    </link>
    <joint name="stickbug/arm2/w1" type="revolute">
        <origin rpy="0 0 0" xyz="0.154351347 0 0.00586118891519596" />
        <parent link="stickbug/arm2/forearm" />
        <child link="stickbug/arm2/w1_link" />
        <axis xyz="0 0 1" />
        <limit effort="200" lower="-1.57" upper="1.57" velocity="0" />
        <dynamics damping="0.2" friction="0.2" />
    </joint>
    <link name="stickbug/arm2/w2_link">
        <inertial>
            <origin rpy="0 0 0" xyz="0.0566451733011976 -0.00141725658574912 0.0284323416048118" />
            <mass value="0.153757182920479" />
            <inertia ixx="9.61201704567482E-05" ixy="-2.53181854057694E-06" ixz="1.28235405708061E-05" iyy="0.000113585627853035" iyz="-2.70973268265225E-06" izz="6.51970121574257E-05" />
        </inertial>
        <visual>
            <origin rpy="0 0 0" xyz="0 0 0" />
            <geometry>
                <mesh filename="package://poll_arm_right/meshes/w2_link.STL" />
            </geometry>
            <material name="">
                <color rgba="0.792156862745098 0.819607843137255 0.933333333333333 1" />
            </material>
        </visual>
        <collision>
            <origin rpy="0 0 0" xyz="0 0 0" />
            <geometry>
                <mesh filename="package://poll_arm_right/meshes/w2_link.STL" />
            </geometry>
        </collision>
    </link>
    <joint name="stickbug/arm2/w2" type="revolute">
        <origin rpy="1.57079632679489 0 0" xyz="0.0240000007161376 0.0221999998475506 0.0221750001524488" />
        <parent link="stickbug/arm2/w1_link" />
        <child link="stickbug/arm2/w2_link" />
        <axis xyz="0 0 1" />
        <limit effort="200" lower="-1.57" upper="1.57" velocity="0" />
        <dynamics damping="0.2" friction="0.2" />
    </joint>
    <link name="stickbug/arm2/cam_link">
        <inertial>
            <origin rpy="0 0 0" xyz="-0.0113814657659484 -3.7765632954212E-08 -8.96828082674883E-05" />
            <mass value="0.0394840464043759" />
            <inertia ixx="1.13008734896739E-05" ixy="-1.18403271942562E-12" ixz="-1.11849815558335E-08" iyy="7.34442345562824E-06" iyz="2.14724251236641E-11" izz="7.39890475454631E-06" />
        </inertial>
        <visual>
            <origin rpy="0 0 0" xyz="0 0 0" />
            <geometry>
                <mesh filename="package://poll_arm_right/meshes/cam_link.STL" />
            </geometry>
            <material name="">
                <color rgba="0.792156862745098 0.819607843137255 0.933333333333333 1" />
            </material>
        </visual>
        <collision>
            <origin rpy="0 0 0" xyz="0 0 0" />
            <geometry>
                <mesh filename="package://poll_arm_right/meshes/cam_link.STL" />
            </geometry>
        </collision>
    </link>
    <joint name="stickbug/arm2/cam_joint" type="fixed">
        <origin rpy="0 0.26179938779915 0" xyz="0.063863151034262 0 0.0834316043147122" />
        <parent link="stickbug/arm2/w2_link" />
        <child link="stickbug/arm2/cam_link" />
        <axis xyz="0 0 0" />
    </joint>
    <link name="stickbug/arm2/e1_link">
        <inertial>
            <origin rpy="0 0 0" xyz="0.00768377159854672 0.00530600599131259 -0.000730992899423522" />
            <mass value="0.00225996756513805" />
            <inertia ixx="1.30412723697187E-07" ixy="9.73218559749733E-08" ixz="2.16169394663048E-08" iyy="1.966205244536E-07" iyz="-1.2986245459416E-08" izz="3.15647081687985E-07" />
        </inertial>
        <visual>
            <origin rpy="0 0 0" xyz="0 0 0" />
            <geometry>
                <mesh filename="package://poll_arm_right/meshes/e1_link.STL" />
            </geometry>
            <material name="">
                <color rgba="0.792156862745098 0.819607843137255 0.933333333333333 1" />
            </material>
        </visual>
        <collision>
            <origin rpy="0 0 0" xyz="0 0 0" />
            <geometry>
                <mesh filename="package://poll_arm_right/meshes/e1_link.STL" />
            </geometry>
        </collision>
    </link>
    <joint name="stickbug/arm2/e1" type="revolute">
        <origin rpy="-1.0471975511966 0 0" xyz="0.0769999999999999 0.0112634866641177 0.00700070249463941" />
        <parent link="stickbug/arm2/w2_link" />
        <child link="stickbug/arm2/e1_link" />
        <axis xyz="0 0 1" />
        <limit effort="200" lower="-1.57" upper="1.57" velocity="0" />
        <dynamics damping="0.2" friction="0.2" />
    </joint>
    <link name="stickbug/arm2/e2_link">
        <inertial>
            <origin rpy="0 0 0" xyz="0.0076837715993977 0.00530600599028458 -0.000730992897713667" />
            <mass value="0.00225996756505407" />
            <inertia ixx="1.30412723709295E-07" ixy="9.73218559904026E-08" ixz="2.16169394327849E-08" iyy="1.96620524444531E-07" iyz="-1.2986245443103E-08" izz="3.15647081713528E-07" />
        </inertial>
        <visual>
            <origin rpy="0 0 0" xyz="0 0 0" />
            <geometry>
                <mesh filename="package://poll_arm_right/meshes/e2_link.STL" />
            </geometry>
            <material name="">
                <color rgba="0.250980392156863 0.250980392156863 0.250980392156863 1" />
            </material>
        </visual>
        <collision>
            <origin rpy="0 0 0" xyz="0 0 0" />
            <geometry>
                <mesh filename="package://poll_arm_right/meshes/e2_link.STL" />
            </geometry>
        </collision>
    </link>
    <joint name="stickbug/arm2/e2" type="revolute">
        <origin rpy="1.0472 0 0" xyz="0.077 0.0074446 0.039404" />
        <parent link="stickbug/arm2/w2_link" />
        <child link="stickbug/arm2/e2_link" />
        <axis xyz="0 0 1" />
        <limit effort="200" lower="-1.57" upper="1.57" velocity="0" />
        <dynamics damping="0.2" friction="0.2" />
    </joint>
    <link name="stickbug/arm2/e3_link">
        <inertial>
            <origin rpy="0 0 0" xyz="0.00768377159880046 0.00530600599161379 -0.000730992902174266" />
            <mass value="0.00225996756527348" />
            <inertia ixx="1.30412723718879E-07" ixy="9.73218559573204E-08" ixz="2.16169395180174E-08" iyy="1.96620524429934E-07" iyz="-1.2986245490849E-08" izz="3.15647081641822E-07" />
        </inertial>
        <visual>
            <origin rpy="0 0 0" xyz="0 0 0" />
            <geometry>
                <mesh filename="package://poll_arm_right/meshes/e3_link.STL" />
            </geometry>
            <material name="">
                <color rgba="0.250980392156863 0.250980392156863 0.250980392156863 1" />
            </material>
        </visual>
        <collision>
            <origin rpy="0 0 0" xyz="0 0 0" />
            <geometry>
                <mesh filename="package://poll_arm_right/meshes/e3_link.STL" />
            </geometry>
        </collision>
    </link>
    <joint name="stickbug/arm2/e3" type="revolute">
        <origin rpy="3.14159265358979 0 0" xyz="0.077000000000051 -0.0187081185534836 0.0198951831632689" />
        <parent link="stickbug/arm2/w2_link" />
        <child link="stickbug/arm2/e3_link" />
        <axis xyz="0 0 1" />
        <limit effort="200" lower="-1.57" upper="1.57" velocity="0" />
        <dynamics damping="0.2" friction="0.2" />
    </joint>
    <link name="stickbug/arm2/end_link">
        <inertial>
            <origin rpy="0 0 0" xyz="-0.00224236893916036 -3.51872006532084E-08 3.59307923136765E-08" />
            <mass value="0.00244973338644466" />
            <inertia ixx="2.17281683587081E-07" ixy="1.95917302230901E-13" ixz="-3.07605742822788E-13" iyy="1.14231479742373E-07" iyz="9.90134628090014E-13" izz="1.14231411420647E-07" />
        </inertial>
        <visual>
            <origin rpy="0 0 0" xyz="0 0 0" />
            <geometry>
                <mesh filename="package://poll_arm_right/meshes/end_link.STL" />
            </geometry>
            <material name="">
                <color rgba="0.792156862745098 0.819607843137255 0.933333333333333 1" />
            </material>
        </visual>
        <collision>
            <origin rpy="0 0 0" xyz="0 0 0" />
            <geometry>
                <mesh filename="package://poll_arm_right/meshes/end_link.STL" />
            </geometry>
        </collision>
    </link>
    <joint name="stickbug/arm2/end_joint" type="fixed">
        <origin rpy="-1.57079632679491 0 0" xyz="0.122934886777477 0 0.0220999999985055" />
        <parent link="stickbug/arm2/w2_link" />
        <child link="stickbug/arm2/end_link" />
        <axis xyz="0 0 0" />
    </joint>
    <link name="stickbug/arm2/camera_frame" />
    <joint name="stickbug/arm2/cam_link2cam_frame" type="fixed">
        <parent link="stickbug/arm2/cam_link" />
        <child link="stickbug/arm2/camera_frame" />
        <origin rpy="-1.57 0.0 -1.57" xyz="0.0 0.0 0.0" />
    </joint>
    <transmission name="stickbug/arm2/trans_slider">
        <type>transmission_interface/SimpleTransmission</type>
        <joint name="stickbug/arm2/slider">
            <hardwareInterface>hardware_interface/EffortJointInterface</hardwareInterface>
        </joint>
        <actuator name="stickbug/arm2/slider_motor">
            <hardwareInterface>hardware_interface/EffortJointInterface</hardwareInterface>
            <mechanicalReduction>1</mechanicalReduction>
        </actuator>
    </transmission>
    <transmission name="stickbug/arm2/trans_shoulder">
        <type>transmission_interface/SimpleTransmission</type>
        <joint name="stickbug/arm2/shoulder">
            <hardwareInterface>hardware_interface/EffortJointInterface</hardwareInterface>
        </joint>
        <actuator name="stickbug/arm2/shoulder_motor">
            <hardwareInterface>hardware_interface/EffortJointInterface</hardwareInterface>
            <mechanicalReduction>1</mechanicalReduction>
        </actuator>
    </transmission>
    <transmission name="stickbug/arm2/trans_elbow">
        <type>transmission_interface/SimpleTransmission</type>
        <joint name="stickbug/arm2/elbow">
            <hardwareInterface>hardware_interface/EffortJointInterface</hardwareInterface>
        </joint>
        <actuator name="stickbug/arm2/elbow_motor">
            <hardwareInterface>hardware_interface/EffortJointInterface</hardwareInterface>
            <mechanicalReduction>1</mechanicalReduction>
        </actuator>
    </transmission>
    <transmission name="stickbug/arm2/trans_w1">
        <type>transmission_interface/SimpleTransmission</type>
        <joint name="stickbug/arm2/w1">
            <hardwareInterface>hardware_interface/EffortJointInterface</hardwareInterface>
        </joint>
        <actuator name="stickbug/arm2/w1_motor">
            <hardwareInterface>hardware_interface/EffortJointInterface</hardwareInterface>
            <mechanicalReduction>1</mechanicalReduction>
        </actuator>
    </transmission>
    <transmission name="stickbug/arm2/trans_w2">
        <type>transmission_interface/SimpleTransmission</type>
        <joint name="stickbug/arm2/w2">
            <hardwareInterface>hardware_interface/EffortJointInterface</hardwareInterface>
        </joint>
        <actuator name="stickbug/arm2/w2_motor">
            <hardwareInterface>hardware_interface/EffortJointInterface</hardwareInterface>
            <mechanicalReduction>1</mechanicalReduction>
        </actuator>
    </transmission>
    <transmission name="stickbug/arm2/trans_e1">
        <type>transmission_interface/SimpleTransmission</type>
        <joint name="stickbug/arm2/e1">
            <hardwareInterface>hardware_interface/EffortJointInterface</hardwareInterface>
        </joint>
        <actuator name="stickbug/arm2/e1_motor">
            <hardwareInterface>hardware_interface/EffortJointInterface</hardwareInterface>
            <mechanicalReduction>1</mechanicalReduction>
        </actuator>
    </transmission>
    <transmission name="stickbug/arm2/trans_e2">
        <type>transmission_interface/SimpleTransmission</type>
        <joint name="stickbug/arm2/e2">
            <hardwareInterface>hardware_interface/EffortJointInterface</hardwareInterface>
        </joint>
        <actuator name="stickbug/arm2/e2_motor">
            <hardwareInterface>hardware_interface/EffortJointInterface</hardwareInterface>
            <mechanicalReduction>1</mechanicalReduction>
        </actuator>
    </transmission>
    <transmission name="stickbug/arm2/trans_e3">
        <type>transmission_interface/SimpleTransmission</type>
        <joint name="stickbug/arm2/e3">
            <hardwareInterface>hardware_interface/EffortJointInterface</hardwareInterface>
        </joint>
        <actuator name="stickbug/arm2/e3_motor">
            <hardwareInterface>hardware_interface/EffortJointInterface</hardwareInterface>
            <mechanicalReduction>1</mechanicalReduction>
        </actuator>
    </transmission>
    <!--================================ right realsense plugin ================================-->
    <gazebo reference="stickbug/arm2/cam_link">
        <sensor name="stickbug/arm2/cam_link_camera" type="depth">
            <update_rate>20</update_rate>
            <camera>
                <horizontal_fov>1.047198</horizontal_fov>
                <image>
                    <width>640</width>
                    <height>480</height>
                    <format>R8G8B8</format>
                </image>
                <clip>
                    <near>0.05</near>
                    <far>3</far>
                </clip>
            </camera>
            <plugin filename="libgazebo_ros_openni_kinect.so" name="stickbug/arm2/cam_link_controller">
                <baseline>0.2</baseline>
                <alwaysOn>true</alwaysOn>
                <updateRate>1.0</updateRate>
                <cameraName>stickbug/arm2/cam_link</cameraName>
                <imageTopicName>color/image_raw</imageTopicName>
                <cameraInfoTopicName>color/camera_info</cameraInfoTopicName>
                <depthImageTopicName>depth/image_raw</depthImageTopicName>
                <depthImageInfoTopicName>depth/camera_info</depthImageInfoTopicName>
                <pointCloudTopicName>depth/points</pointCloudTopicName>
                <frameName>stickbug/arm2/camera_frame</frameName>
                <pointCloudCutoff>0.5</pointCloudCutoff>
                <pointCloudCutoffMax>3.0</pointCloudCutoffMax>
                <distortionK1>0.00000001</distortionK1>
                <distortionK2>0.00000001</distortionK2>
                <distortionK3>0.00000001</distortionK3>
                <distortionT1>0.00000001</distortionT1>
                <distortionT2>0.00000001</distortionT2>
                <CxPrime>0</CxPrime>
                <Cx>0</Cx>
                <Cy>0</Cy>
                <focalLength>0</focalLength>
                <hackBaseline>0</hackBaseline>
            </plugin>
        </sensor>
    </gazebo>
    <link name="stickbug/arm4/box">
        <inertial>
            <origin rpy="0 0 0" xyz="-0.0294836466854795 -0.00650699178978333 0.054665921342337" />
            <mass value="1.25224595398726" />
            <inertia ixx="0.00206596064394956" ixy="0.000334896166615364" ixz="-0.000136948453654299" iyy="0.0035115970252851" iyz="-4.17254634185766E-05" izz="0.00431158338218049" />
        </inertial>
        <visual>
            <origin rpy="0 0 0" xyz="0 0 0" />
            <geometry>
                <mesh filename="package://poll_arm_right/meshes/box.STL" />
            </geometry>
            <material name="">
                <color rgba="0.792156862745098 0.819607843137255 0.933333333333333 1" />
            </material>
        </visual>
        <collision>
            <origin rpy="0 0 0" xyz="0 0 0" />
            <geometry>
                <mesh filename="package://poll_arm_right/meshes/box.STL" />
            </geometry>
        </collision>
    </link>
    <joint name="stickbug/arm4/slider" type="prismatic">
        <origin rpy="0 0 0" xyz="0 0 0" />
        <parent link="stickbug/drivebase/r_lift" />
        <child link="stickbug/arm4/box" />
        <axis xyz="0 0 1" />
        <limit effort="200" lower="0" upper="2" velocity="0" />
        <dynamics damping="0.2" friction="0.2" />
    </joint>
    <link name="stickbug/arm4/bicep">
        <inertial>
            <origin rpy="0 0 0" xyz="0.19577236492752 0.025617006022445 0.031470242482028" />
            <mass value="0.0881583450015477" />
            <inertia ixx="4.02190655717306E-05" ixy="-9.41441514101079E-09" ixz="-4.66388635592039E-08" iyy="2.35490419805005E-05" iyz="-9.36030697866667E-08" izz="3.32834464790013E-05" />
        </inertial>
        <visual>
            <origin rpy="0 0 0" xyz="0 0 0" />
            <geometry>
                <mesh filename="package://poll_arm_right/meshes/bicep.STL" />
            </geometry>
            <material name="">
                <color rgba="0.698039215686274 0.698039215686274 0.698039215686274 1" />
            </material>
        </visual>
        <collision>
            <origin rpy="0 0 0" xyz="0 0 0" />
            <geometry>
                <mesh filename="package://poll_arm_right/meshes/bicep.STL" />
            </geometry>
        </collision>
    </link>
    <joint name="stickbug/arm4/shoulder" type="revolute">
        <origin rpy="0 0 -0.523598775598304" xyz="0.101983673651571 -0.0444010956927517 0.0186529999998991" />
        <parent link="stickbug/arm4/box" />
        <child link="stickbug/arm4/bicep" />
        <axis xyz="0 0 1" />
        <limit effort="200" lower="-1.57" upper="1.57" velocity="0" />
        <dynamics damping="0.2" friction="0.2" />
    </joint>
    <link name="stickbug/arm4/forearm">
        <inertial>
            <origin rpy="0 0 0" xyz="0.0765243373190801 -0.00763087662935313 0.0278615390492158" />
            <mass value="0.0881583450015477" />
            <inertia ixx="4.02190655717306E-05" ixy="-9.41441514101079E-09" ixz="-4.66388635592039E-08" iyy="2.35490419805005E-05" iyz="-9.36030697866667E-08" izz="3.32834464790013E-05" />
        </inertial>
        <visual>
            <origin rpy="0 0 0" xyz="0 0 0" />
            <geometry>
                <mesh filename="package://poll_arm_right/meshes/forearm.STL" />
            </geometry>
            <material name="">
                <color rgba="0.698039215686274 0.698039215686274 0.698039215686274 1" />
            </material>
        </visual>
        <collision>
            <origin rpy="0 0 0" xyz="0 0 0" />
            <geometry>
                <mesh filename="package://poll_arm_right/meshes/forearm.STL" />
            </geometry>
        </collision>
    </link>
    <joint name="stickbug/arm4/elbow" type="revolute">
        <origin rpy="0 0 1.5707963267949" xyz="0.1959 0.0406860000000015 0.00350608116532053" />
        <parent link="stickbug/arm4/bicep" />
        <child link="stickbug/arm4/forearm" />
        <axis xyz="0 0 1" />
        <limit effort="200" lower="-1.57" upper="1.57" velocity="0" />
        <dynamics damping="0.2" friction="0.2" />
    </joint>
    <link name="stickbug/arm4/w1_link">
        <inertial>
            <origin rpy="0 0 0" xyz="0.0119998492953422 -0.000549087822445449 0.0216260058358662" />
            <mass value="0.0565320862795783" />
            <inertia ixx="1.0226625085126E-05" ixy="6.10475234160948E-10" ixz="-7.97796107526925E-10" iyy="1.43894864274769E-05" iyz="3.44003507752819E-07" izz="1.4389503019841E-05" />
        </inertial>
        <visual>
            <origin rpy="0 0 0" xyz="0 0 0" />
            <geometry>
                <mesh filename="package://poll_arm_right/meshes/w1_link.STL" />
            </geometry>
            <material name="">
                <color rgba="0.792156862745098 0.819607843137255 0.933333333333333 1" />
            </material>
        </visual>
        <collision>
            <origin rpy="0 0 0" xyz="0 0 0" />
            <geometry>
                <mesh filename="package://poll_arm_right/meshes/w1_link.STL" />
            </geometry>
        </collision>
    </link>
    <joint name="stickbug/arm4/w1" type="revolute">
        <origin rpy="0 0 0" xyz="0.154351347 0 0.00586118891519596" />
        <parent link="stickbug/arm4/forearm" />
        <child link="stickbug/arm4/w1_link" />
        <axis xyz="0 0 1" />
        <limit effort="200" lower="-1.57" upper="1.57" velocity="0" />
        <dynamics damping="0.2" friction="0.2" />
    </joint>
    <link name="stickbug/arm4/w2_link">
        <inertial>
            <origin rpy="0 0 0" xyz="0.0566451733011976 -0.00141725658574912 0.0284323416048118" />
            <mass value="0.153757182920479" />
            <inertia ixx="9.61201704567482E-05" ixy="-2.53181854057694E-06" ixz="1.28235405708061E-05" iyy="0.000113585627853035" iyz="-2.70973268265225E-06" izz="6.51970121574257E-05" />
        </inertial>
        <visual>
            <origin rpy="0 0 0" xyz="0 0 0" />
            <geometry>
                <mesh filename="package://poll_arm_right/meshes/w2_link.STL" />
            </geometry>
            <material name="">
                <color rgba="0.792156862745098 0.819607843137255 0.933333333333333 1" />
            </material>
        </visual>
        <collision>
            <origin rpy="0 0 0" xyz="0 0 0" />
            <geometry>
                <mesh filename="package://poll_arm_right/meshes/w2_link.STL" />
            </geometry>
        </collision>
    </link>
    <joint name="stickbug/arm4/w2" type="revolute">
        <origin rpy="1.57079632679489 0 0" xyz="0.0240000007161376 0.0221999998475506 0.0221750001524488" />
        <parent link="stickbug/arm4/w1_link" />
        <child link="stickbug/arm4/w2_link" />
        <axis xyz="0 0 1" />
        <limit effort="200" lower="-1.57" upper="1.57" velocity="0" />
        <dynamics damping="0.2" friction="0.2" />
    </joint>
    <link name="stickbug/arm4/cam_link">
        <inertial>
            <origin rpy="0 0 0" xyz="-0.0113814657659484 -3.7765632954212E-08 -8.96828082674883E-05" />
            <mass value="0.0394840464043759" />
            <inertia ixx="1.13008734896739E-05" ixy="-1.18403271942562E-12" ixz="-1.11849815558335E-08" iyy="7.34442345562824E-06" iyz="2.14724251236641E-11" izz="7.39890475454631E-06" />
        </inertial>
        <visual>
            <origin rpy="0 0 0" xyz="0 0 0" />
            <geometry>
                <mesh filename="package://poll_arm_right/meshes/cam_link.STL" />
            </geometry>
            <material name="">
                <color rgba="0.792156862745098 0.819607843137255 0.933333333333333 1" />
            </material>
        </visual>
        <collision>
            <origin rpy="0 0 0" xyz="0 0 0" />
            <geometry>
                <mesh filename="package://poll_arm_right/meshes/cam_link.STL" />
            </geometry>
        </collision>
    </link>
    <joint name="stickbug/arm4/cam_joint" type="fixed">
        <origin rpy="0 0.26179938779915 0" xyz="0.063863151034262 0 0.0834316043147122" />
        <parent link="stickbug/arm4/w2_link" />
        <child link="stickbug/arm4/cam_link" />
        <axis xyz="0 0 0" />
    </joint>
    <link name="stickbug/arm4/e1_link">
        <inertial>
            <origin rpy="0 0 0" xyz="0.00768377159854672 0.00530600599131259 -0.000730992899423522" />
            <mass value="0.00225996756513805" />
            <inertia ixx="1.30412723697187E-07" ixy="9.73218559749733E-08" ixz="2.16169394663048E-08" iyy="1.966205244536E-07" iyz="-1.2986245459416E-08" izz="3.15647081687985E-07" />
        </inertial>
        <visual>
            <origin rpy="0 0 0" xyz="0 0 0" />
            <geometry>
                <mesh filename="package://poll_arm_right/meshes/e1_link.STL" />
            </geometry>
            <material name="">
                <color rgba="0.792156862745098 0.819607843137255 0.933333333333333 1" />
            </material>
        </visual>
        <collision>
            <origin rpy="0 0 0" xyz="0 0 0" />
            <geometry>
                <mesh filename="package://poll_arm_right/meshes/e1_link.STL" />
            </geometry>
        </collision>
    </link>
    <joint name="stickbug/arm4/e1" type="revolute">
        <origin rpy="-1.0471975511966 0 0" xyz="0.0769999999999999 0.0112634866641177 0.00700070249463941" />
        <parent link="stickbug/arm4/w2_link" />
        <child link="stickbug/arm4/e1_link" />
        <axis xyz="0 0 1" />
        <limit effort="200" lower="-1.57" upper="1.57" velocity="0" />
        <dynamics damping="0.2" friction="0.2" />
    </joint>
    <link name="stickbug/arm4/e2_link">
        <inertial>
            <origin rpy="0 0 0" xyz="0.0076837715993977 0.00530600599028458 -0.000730992897713667" />
            <mass value="0.00225996756505407" />
            <inertia ixx="1.30412723709295E-07" ixy="9.73218559904026E-08" ixz="2.16169394327849E-08" iyy="1.96620524444531E-07" iyz="-1.2986245443103E-08" izz="3.15647081713528E-07" />
        </inertial>
        <visual>
            <origin rpy="0 0 0" xyz="0 0 0" />
            <geometry>
                <mesh filename="package://poll_arm_right/meshes/e2_link.STL" />
            </geometry>
            <material name="">
                <color rgba="0.250980392156863 0.250980392156863 0.250980392156863 1" />
            </material>
        </visual>
        <collision>
            <origin rpy="0 0 0" xyz="0 0 0" />
            <geometry>
                <mesh filename="package://poll_arm_right/meshes/e2_link.STL" />
            </geometry>
        </collision>
    </link>
    <joint name="stickbug/arm4/e2" type="revolute">
        <origin rpy="1.0472 0 0" xyz="0.077 0.0074446 0.039404" />
        <parent link="stickbug/arm4/w2_link" />
        <child link="stickbug/arm4/e2_link" />
        <axis xyz="0 0 1" />
        <limit effort="200" lower="-1.57" upper="1.57" velocity="0" />
        <dynamics damping="0.2" friction="0.2" />
    </joint>
    <link name="stickbug/arm4/e3_link">
        <inertial>
            <origin rpy="0 0 0" xyz="0.00768377159880046 0.00530600599161379 -0.000730992902174266" />
            <mass value="0.00225996756527348" />
            <inertia ixx="1.30412723718879E-07" ixy="9.73218559573204E-08" ixz="2.16169395180174E-08" iyy="1.96620524429934E-07" iyz="-1.2986245490849E-08" izz="3.15647081641822E-07" />
        </inertial>
        <visual>
            <origin rpy="0 0 0" xyz="0 0 0" />
            <geometry>
                <mesh filename="package://poll_arm_right/meshes/e3_link.STL" />
            </geometry>
            <material name="">
                <color rgba="0.250980392156863 0.250980392156863 0.250980392156863 1" />
            </material>
        </visual>
        <collision>
            <origin rpy="0 0 0" xyz="0 0 0" />
            <geometry>
                <mesh filename="package://poll_arm_right/meshes/e3_link.STL" />
            </geometry>
        </collision>
    </link>
    <joint name="stickbug/arm4/e3" type="revolute">
        <origin rpy="3.14159265358979 0 0" xyz="0.077000000000051 -0.0187081185534836 0.0198951831632689" />
        <parent link="stickbug/arm4/w2_link" />
        <child link="stickbug/arm4/e3_link" />
        <axis xyz="0 0 1" />
        <limit effort="200" lower="-1.57" upper="1.57" velocity="0" />
        <dynamics damping="0.2" friction="0.2" />
    </joint>
    <link name="stickbug/arm4/end_link">
        <inertial>
            <origin rpy="0 0 0" xyz="-0.00224236893916036 -3.51872006532084E-08 3.59307923136765E-08" />
            <mass value="0.00244973338644466" />
            <inertia ixx="2.17281683587081E-07" ixy="1.95917302230901E-13" ixz="-3.07605742822788E-13" iyy="1.14231479742373E-07" iyz="9.90134628090014E-13" izz="1.14231411420647E-07" />
        </inertial>
        <visual>
            <origin rpy="0 0 0" xyz="0 0 0" />
            <geometry>
                <mesh filename="package://poll_arm_right/meshes/end_link.STL" />
            </geometry>
            <material name="">
                <color rgba="0.792156862745098 0.819607843137255 0.933333333333333 1" />
            </material>
        </visual>
        <collision>
            <origin rpy="0 0 0" xyz="0 0 0" />
            <geometry>
                <mesh filename="package://poll_arm_right/meshes/end_link.STL" />
            </geometry>
        </collision>
    </link>
    <joint name="stickbug/arm4/end_joint" type="fixed">
        <origin rpy="-1.57079632679491 0 0" xyz="0.122934886777477 0 0.0220999999985055" />
        <parent link="stickbug/arm4/w2_link" />
        <child link="stickbug/arm4/end_link" />
        <axis xyz="0 0 0" />
    </joint>
    <link name="stickbug/arm4/camera_frame" />
    <joint name="stickbug/arm4/cam_link2cam_frame" type="fixed">
        <parent link="stickbug/arm4/cam_link" />
        <child link="stickbug/arm4/camera_frame" />
        <origin rpy="-1.57 0.0 -1.57" xyz="0.0 0.0 0.0" />
    </joint>
    <transmission name="stickbug/arm4/trans_slider">
        <type>transmission_interface/SimpleTransmission</type>
        <joint name="stickbug/arm4/slider">
            <hardwareInterface>hardware_interface/EffortJointInterface</hardwareInterface>
        </joint>
        <actuator name="stickbug/arm4/slider_motor">
            <hardwareInterface>hardware_interface/EffortJointInterface</hardwareInterface>
            <mechanicalReduction>1</mechanicalReduction>
        </actuator>
    </transmission>
    <transmission name="stickbug/arm4/trans_shoulder">
        <type>transmission_interface/SimpleTransmission</type>
        <joint name="stickbug/arm4/shoulder">
            <hardwareInterface>hardware_interface/EffortJointInterface</hardwareInterface>
        </joint>
        <actuator name="stickbug/arm4/shoulder_motor">
            <hardwareInterface>hardware_interface/EffortJointInterface</hardwareInterface>
            <mechanicalReduction>1</mechanicalReduction>
        </actuator>
    </transmission>
    <transmission name="stickbug/arm4/trans_elbow">
        <type>transmission_interface/SimpleTransmission</type>
        <joint name="stickbug/arm4/elbow">
            <hardwareInterface>hardware_interface/EffortJointInterface</hardwareInterface>
        </joint>
        <actuator name="stickbug/arm4/elbow_motor">
            <hardwareInterface>hardware_interface/EffortJointInterface</hardwareInterface>
            <mechanicalReduction>1</mechanicalReduction>
        </actuator>
    </transmission>
    <transmission name="stickbug/arm4/trans_w1">
        <type>transmission_interface/SimpleTransmission</type>
        <joint name="stickbug/arm4/w1">
            <hardwareInterface>hardware_interface/EffortJointInterface</hardwareInterface>
        </joint>
        <actuator name="stickbug/arm4/w1_motor">
            <hardwareInterface>hardware_interface/EffortJointInterface</hardwareInterface>
            <mechanicalReduction>1</mechanicalReduction>
        </actuator>
    </transmission>
    <transmission name="stickbug/arm4/trans_w2">
        <type>transmission_interface/SimpleTransmission</type>
        <joint name="stickbug/arm4/w2">
            <hardwareInterface>hardware_interface/EffortJointInterface</hardwareInterface>
        </joint>
        <actuator name="stickbug/arm4/w2_motor">
            <hardwareInterface>hardware_interface/EffortJointInterface</hardwareInterface>
            <mechanicalReduction>1</mechanicalReduction>
        </actuator>
    </transmission>
    <transmission name="stickbug/arm4/trans_e1">
        <type>transmission_interface/SimpleTransmission</type>
        <joint name="stickbug/arm4/e1">
            <hardwareInterface>hardware_interface/EffortJointInterface</hardwareInterface>
        </joint>
        <actuator name="stickbug/arm4/e1_motor">
            <hardwareInterface>hardware_interface/EffortJointInterface</hardwareInterface>
            <mechanicalReduction>1</mechanicalReduction>
        </actuator>
    </transmission>
    <transmission name="stickbug/arm4/trans_e2">
        <type>transmission_interface/SimpleTransmission</type>
        <joint name="stickbug/arm4/e2">
            <hardwareInterface>hardware_interface/EffortJointInterface</hardwareInterface>
        </joint>
        <actuator name="stickbug/arm4/e2_motor">
            <hardwareInterface>hardware_interface/EffortJointInterface</hardwareInterface>
            <mechanicalReduction>1</mechanicalReduction>
        </actuator>
    </transmission>
    <transmission name="stickbug/arm4/trans_e3">
        <type>transmission_interface/SimpleTransmission</type>
        <joint name="stickbug/arm4/e3">
            <hardwareInterface>hardware_interface/EffortJointInterface</hardwareInterface>
        </joint>
        <actuator name="stickbug/arm4/e3_motor">
            <hardwareInterface>hardware_interface/EffortJointInterface</hardwareInterface>
            <mechanicalReduction>1</mechanicalReduction>
        </actuator>
    </transmission>
    <!--================================ right realsense plugin ================================-->
    <gazebo reference="stickbug/arm4/cam_link">
        <sensor name="stickbug/arm4/cam_link_camera" type="depth">
            <update_rate>20</update_rate>
            <camera>
                <horizontal_fov>1.047198</horizontal_fov>
                <image>
                    <width>640</width>
                    <height>480</height>
                    <format>R8G8B8</format>
                </image>
                <clip>
                    <near>0.05</near>
                    <far>3</far>
                </clip>
            </camera>
            <plugin filename="libgazebo_ros_openni_kinect.so" name="stickbug/arm4/cam_link_controller">
                <baseline>0.2</baseline>
                <alwaysOn>true</alwaysOn>
                <updateRate>1.0</updateRate>
                <cameraName>stickbug/arm4/cam_link</cameraName>
                <imageTopicName>color/image_raw</imageTopicName>
                <cameraInfoTopicName>color/camera_info</cameraInfoTopicName>
                <depthImageTopicName>depth/image_raw</depthImageTopicName>
                <depthImageInfoTopicName>depth/camera_info</depthImageInfoTopicName>
                <pointCloudTopicName>depth/points</pointCloudTopicName>
                <frameName>stickbug/arm4/camera_frame</frameName>
                <pointCloudCutoff>0.5</pointCloudCutoff>
                <pointCloudCutoffMax>3.0</pointCloudCutoffMax>
                <distortionK1>0.00000001</distortionK1>
                <distortionK2>0.00000001</distortionK2>
                <distortionK3>0.00000001</distortionK3>
                <distortionT1>0.00000001</distortionT1>
                <distortionT2>0.00000001</distortionT2>
                <CxPrime>0</CxPrime>
                <Cx>0</Cx>
                <Cy>0</Cy>
                <focalLength>0</focalLength>
                <hackBaseline>0</hackBaseline>
            </plugin>
        </sensor>
    </gazebo>
    <link name="stickbug/arm6/box">
        <inertial>
            <origin rpy="0 0 0" xyz="-0.0294836466854795 -0.00650699178978333 0.054665921342337" />
            <mass value="1.25224595398726" />
            <inertia ixx="0.00206596064394956" ixy="0.000334896166615364" ixz="-0.000136948453654299" iyy="0.0035115970252851" iyz="-4.17254634185766E-05" izz="0.00431158338218049" />
        </inertial>
        <visual>
            <origin rpy="0 0 0" xyz="0 0 0" />
            <geometry>
                <mesh filename="package://poll_arm_right/meshes/box.STL" />
            </geometry>
            <material name="">
                <color rgba="0.792156862745098 0.819607843137255 0.933333333333333 1" />
            </material>
        </visual>
        <collision>
            <origin rpy="0 0 0" xyz="0 0 0" />
            <geometry>
                <mesh filename="package://poll_arm_right/meshes/box.STL" />
            </geometry>
        </collision>
    </link>
    <joint name="stickbug/arm6/slider" type="prismatic">
        <origin rpy="0 0 0" xyz="0 0 0" />
        <parent link="stickbug/drivebase/r_lift" />
        <child link="stickbug/arm6/box" />
        <axis xyz="0 0 1" />
        <limit effort="200" lower="0" upper="2" velocity="0" />
        <dynamics damping="0.2" friction="0.2" />
    </joint>
    <link name="stickbug/arm6/bicep">
        <inertial>
            <origin rpy="0 0 0" xyz="0.19577236492752 0.025617006022445 0.031470242482028" />
            <mass value="0.0881583450015477" />
            <inertia ixx="4.02190655717306E-05" ixy="-9.41441514101079E-09" ixz="-4.66388635592039E-08" iyy="2.35490419805005E-05" iyz="-9.36030697866667E-08" izz="3.32834464790013E-05" />
        </inertial>
        <visual>
            <origin rpy="0 0 0" xyz="0 0 0" />
            <geometry>
                <mesh filename="package://poll_arm_right/meshes/bicep.STL" />
            </geometry>
            <material name="">
                <color rgba="0.698039215686274 0.698039215686274 0.698039215686274 1" />
            </material>
        </visual>
        <collision>
            <origin rpy="0 0 0" xyz="0 0 0" />
            <geometry>
                <mesh filename="package://poll_arm_right/meshes/bicep.STL" />
            </geometry>
        </collision>
    </link>
    <joint name="stickbug/arm6/shoulder" type="revolute">
        <origin rpy="0 0 -0.523598775598304" xyz="0.101983673651571 -0.0444010956927517 0.0186529999998991" />
        <parent link="stickbug/arm6/box" />
        <child link="stickbug/arm6/bicep" />
        <axis xyz="0 0 1" />
        <limit effort="200" lower="-1.57" upper="1.57" velocity="0" />
        <dynamics damping="0.2" friction="0.2" />
    </joint>
    <link name="stickbug/arm6/forearm">
        <inertial>
            <origin rpy="0 0 0" xyz="0.0765243373190801 -0.00763087662935313 0.0278615390492158" />
            <mass value="0.0881583450015477" />
            <inertia ixx="4.02190655717306E-05" ixy="-9.41441514101079E-09" ixz="-4.66388635592039E-08" iyy="2.35490419805005E-05" iyz="-9.36030697866667E-08" izz="3.32834464790013E-05" />
        </inertial>
        <visual>
            <origin rpy="0 0 0" xyz="0 0 0" />
            <geometry>
                <mesh filename="package://poll_arm_right/meshes/forearm.STL" />
            </geometry>
            <material name="">
                <color rgba="0.698039215686274 0.698039215686274 0.698039215686274 1" />
            </material>
        </visual>
        <collision>
            <origin rpy="0 0 0" xyz="0 0 0" />
            <geometry>
                <mesh filename="package://poll_arm_right/meshes/forearm.STL" />
            </geometry>
        </collision>
    </link>
    <joint name="stickbug/arm6/elbow" type="revolute">
        <origin rpy="0 0 1.5707963267949" xyz="0.1959 0.0406860000000015 0.00350608116532053" />
        <parent link="stickbug/arm6/bicep" />
        <child link="stickbug/arm6/forearm" />
        <axis xyz="0 0 1" />
        <limit effort="200" lower="-1.57" upper="1.57" velocity="0" />
        <dynamics damping="0.2" friction="0.2" />
    </joint>
    <link name="stickbug/arm6/w1_link">
        <inertial>
            <origin rpy="0 0 0" xyz="0.0119998492953422 -0.000549087822445449 0.0216260058358662" />
            <mass value="0.0565320862795783" />
            <inertia ixx="1.0226625085126E-05" ixy="6.10475234160948E-10" ixz="-7.97796107526925E-10" iyy="1.43894864274769E-05" iyz="3.44003507752819E-07" izz="1.4389503019841E-05" />
        </inertial>
        <visual>
            <origin rpy="0 0 0" xyz="0 0 0" />
            <geometry>
                <mesh filename="package://poll_arm_right/meshes/w1_link.STL" />
            </geometry>
            <material name="">
                <color rgba="0.792156862745098 0.819607843137255 0.933333333333333 1" />
            </material>
        </visual>
        <collision>
            <origin rpy="0 0 0" xyz="0 0 0" />
            <geometry>
                <mesh filename="package://poll_arm_right/meshes/w1_link.STL" />
            </geometry>
        </collision>
    </link>
    <joint name="stickbug/arm6/w1" type="revolute">
        <origin rpy="0 0 0" xyz="0.154351347 0 0.00586118891519596" />
        <parent link="stickbug/arm6/forearm" />
        <child link="stickbug/arm6/w1_link" />
        <axis xyz="0 0 1" />
        <limit effort="200" lower="-1.57" upper="1.57" velocity="0" />
        <dynamics damping="0.2" friction="0.2" />
    </joint>
    <link name="stickbug/arm6/w2_link">
        <inertial>
            <origin rpy="0 0 0" xyz="0.0566451733011976 -0.00141725658574912 0.0284323416048118" />
            <mass value="0.153757182920479" />
            <inertia ixx="9.61201704567482E-05" ixy="-2.53181854057694E-06" ixz="1.28235405708061E-05" iyy="0.000113585627853035" iyz="-2.70973268265225E-06" izz="6.51970121574257E-05" />
        </inertial>
        <visual>
            <origin rpy="0 0 0" xyz="0 0 0" />
            <geometry>
                <mesh filename="package://poll_arm_right/meshes/w2_link.STL" />
            </geometry>
            <material name="">
                <color rgba="0.792156862745098 0.819607843137255 0.933333333333333 1" />
            </material>
        </visual>
        <collision>
            <origin rpy="0 0 0" xyz="0 0 0" />
            <geometry>
                <mesh filename="package://poll_arm_right/meshes/w2_link.STL" />
            </geometry>
        </collision>
    </link>
    <joint name="stickbug/arm6/w2" type="revolute">
        <origin rpy="1.57079632679489 0 0" xyz="0.0240000007161376 0.0221999998475506 0.0221750001524488" />
        <parent link="stickbug/arm6/w1_link" />
        <child link="stickbug/arm6/w2_link" />
        <axis xyz="0 0 1" />
        <limit effort="200" lower="-1.57" upper="1.57" velocity="0" />
        <dynamics damping="0.2" friction="0.2" />
    </joint>
    <link name="stickbug/arm6/cam_link">
        <inertial>
            <origin rpy="0 0 0" xyz="-0.0113814657659484 -3.7765632954212E-08 -8.96828082674883E-05" />
            <mass value="0.0394840464043759" />
            <inertia ixx="1.13008734896739E-05" ixy="-1.18403271942562E-12" ixz="-1.11849815558335E-08" iyy="7.34442345562824E-06" iyz="2.14724251236641E-11" izz="7.39890475454631E-06" />
        </inertial>
        <visual>
            <origin rpy="0 0 0" xyz="0 0 0" />
            <geometry>
                <mesh filename="package://poll_arm_right/meshes/cam_link.STL" />
            </geometry>
            <material name="">
                <color rgba="0.792156862745098 0.819607843137255 0.933333333333333 1" />
            </material>
        </visual>
        <collision>
            <origin rpy="0 0 0" xyz="0 0 0" />
            <geometry>
                <mesh filename="package://poll_arm_right/meshes/cam_link.STL" />
            </geometry>
        </collision>
    </link>
    <joint name="stickbug/arm6/cam_joint" type="fixed">
        <origin rpy="0 0.26179938779915 0" xyz="0.063863151034262 0 0.0834316043147122" />
        <parent link="stickbug/arm6/w2_link" />
        <child link="stickbug/arm6/cam_link" />
        <axis xyz="0 0 0" />
    </joint>
    <link name="stickbug/arm6/e1_link">
        <inertial>
            <origin rpy="0 0 0" xyz="0.00768377159854672 0.00530600599131259 -0.000730992899423522" />
            <mass value="0.00225996756513805" />
            <inertia ixx="1.30412723697187E-07" ixy="9.73218559749733E-08" ixz="2.16169394663048E-08" iyy="1.966205244536E-07" iyz="-1.2986245459416E-08" izz="3.15647081687985E-07" />
        </inertial>
        <visual>
            <origin rpy="0 0 0" xyz="0 0 0" />
            <geometry>
                <mesh filename="package://poll_arm_right/meshes/e1_link.STL" />
            </geometry>
            <material name="">
                <color rgba="0.792156862745098 0.819607843137255 0.933333333333333 1" />
            </material>
        </visual>
        <collision>
            <origin rpy="0 0 0" xyz="0 0 0" />
            <geometry>
                <mesh filename="package://poll_arm_right/meshes/e1_link.STL" />
            </geometry>
        </collision>
    </link>
    <joint name="stickbug/arm6/e1" type="revolute">
        <origin rpy="-1.0471975511966 0 0" xyz="0.0769999999999999 0.0112634866641177 0.00700070249463941" />
        <parent link="stickbug/arm6/w2_link" />
        <child link="stickbug/arm6/e1_link" />
        <axis xyz="0 0 1" />
        <limit effort="200" lower="-1.57" upper="1.57" velocity="0" />
        <dynamics damping="0.2" friction="0.2" />
    </joint>
    <link name="stickbug/arm6/e2_link">
        <inertial>
            <origin rpy="0 0 0" xyz="0.0076837715993977 0.00530600599028458 -0.000730992897713667" />
            <mass value="0.00225996756505407" />
            <inertia ixx="1.30412723709295E-07" ixy="9.73218559904026E-08" ixz="2.16169394327849E-08" iyy="1.96620524444531E-07" iyz="-1.2986245443103E-08" izz="3.15647081713528E-07" />
        </inertial>
        <visual>
            <origin rpy="0 0 0" xyz="0 0 0" />
            <geometry>
                <mesh filename="package://poll_arm_right/meshes/e2_link.STL" />
            </geometry>
            <material name="">
                <color rgba="0.250980392156863 0.250980392156863 0.250980392156863 1" />
            </material>
        </visual>
        <collision>
            <origin rpy="0 0 0" xyz="0 0 0" />
            <geometry>
                <mesh filename="package://poll_arm_right/meshes/e2_link.STL" />
            </geometry>
        </collision>
    </link>
    <joint name="stickbug/arm6/e2" type="revolute">
        <origin rpy="1.0472 0 0" xyz="0.077 0.0074446 0.039404" />
        <parent link="stickbug/arm6/w2_link" />
        <child link="stickbug/arm6/e2_link" />
        <axis xyz="0 0 1" />
        <limit effort="200" lower="-1.57" upper="1.57" velocity="0" />
        <dynamics damping="0.2" friction="0.2" />
    </joint>
    <link name="stickbug/arm6/e3_link">
        <inertial>
            <origin rpy="0 0 0" xyz="0.00768377159880046 0.00530600599161379 -0.000730992902174266" />
            <mass value="0.00225996756527348" />
            <inertia ixx="1.30412723718879E-07" ixy="9.73218559573204E-08" ixz="2.16169395180174E-08" iyy="1.96620524429934E-07" iyz="-1.2986245490849E-08" izz="3.15647081641822E-07" />
        </inertial>
        <visual>
            <origin rpy="0 0 0" xyz="0 0 0" />
            <geometry>
                <mesh filename="package://poll_arm_right/meshes/e3_link.STL" />
            </geometry>
            <material name="">
                <color rgba="0.250980392156863 0.250980392156863 0.250980392156863 1" />
            </material>
        </visual>
        <collision>
            <origin rpy="0 0 0" xyz="0 0 0" />
            <geometry>
                <mesh filename="package://poll_arm_right/meshes/e3_link.STL" />
            </geometry>
        </collision>
    </link>
    <joint name="stickbug/arm6/e3" type="revolute">
        <origin rpy="3.14159265358979 0 0" xyz="0.077000000000051 -0.0187081185534836 0.0198951831632689" />
        <parent link="stickbug/arm6/w2_link" />
        <child link="stickbug/arm6/e3_link" />
        <axis xyz="0 0 1" />
        <limit effort="200" lower="-1.57" upper="1.57" velocity="0" />
        <dynamics damping="0.2" friction="0.2" />
    </joint>
    <link name="stickbug/arm6/end_link">
        <inertial>
            <origin rpy="0 0 0" xyz="-0.00224236893916036 -3.51872006532084E-08 3.59307923136765E-08" />
            <mass value="0.00244973338644466" />
            <inertia ixx="2.17281683587081E-07" ixy="1.95917302230901E-13" ixz="-3.07605742822788E-13" iyy="1.14231479742373E-07" iyz="9.90134628090014E-13" izz="1.14231411420647E-07" />
        </inertial>
        <visual>
            <origin rpy="0 0 0" xyz="0 0 0" />
            <geometry>
                <mesh filename="package://poll_arm_right/meshes/end_link.STL" />
            </geometry>
            <material name="">
                <color rgba="0.792156862745098 0.819607843137255 0.933333333333333 1" />
            </material>
        </visual>
        <collision>
            <origin rpy="0 0 0" xyz="0 0 0" />
            <geometry>
                <mesh filename="package://poll_arm_right/meshes/end_link.STL" />
            </geometry>
        </collision>
    </link>
    <joint name="stickbug/arm6/end_joint" type="fixed">
        <origin rpy="-1.57079632679491 0 0" xyz="0.122934886777477 0 0.0220999999985055" />
        <parent link="stickbug/arm6/w2_link" />
        <child link="stickbug/arm6/end_link" />
        <axis xyz="0 0 0" />
    </joint>
    <link name="stickbug/arm6/camera_frame" />
    <joint name="stickbug/arm6/cam_link2cam_frame" type="fixed">
        <parent link="stickbug/arm6/cam_link" />
        <child link="stickbug/arm6/camera_frame" />
        <origin rpy="-1.57 0.0 -1.57" xyz="0.0 0.0 0.0" />
    </joint>
    <transmission name="stickbug/arm6/trans_slider">
        <type>transmission_interface/SimpleTransmission</type>
        <joint name="stickbug/arm6/slider">
            <hardwareInterface>hardware_interface/EffortJointInterface</hardwareInterface>
        </joint>
        <actuator name="stickbug/arm6/slider_motor">
            <hardwareInterface>hardware_interface/EffortJointInterface</hardwareInterface>
            <mechanicalReduction>1</mechanicalReduction>
        </actuator>
    </transmission>
    <transmission name="stickbug/arm6/trans_shoulder">
        <type>transmission_interface/SimpleTransmission</type>
        <joint name="stickbug/arm6/shoulder">
            <hardwareInterface>hardware_interface/EffortJointInterface</hardwareInterface>
        </joint>
        <actuator name="stickbug/arm6/shoulder_motor">
            <hardwareInterface>hardware_interface/EffortJointInterface</hardwareInterface>
            <mechanicalReduction>1</mechanicalReduction>
        </actuator>
    </transmission>
    <transmission name="stickbug/arm6/trans_elbow">
        <type>transmission_interface/SimpleTransmission</type>
        <joint name="stickbug/arm6/elbow">
            <hardwareInterface>hardware_interface/EffortJointInterface</hardwareInterface>
        </joint>
        <actuator name="stickbug/arm6/elbow_motor">
            <hardwareInterface>hardware_interface/EffortJointInterface</hardwareInterface>
            <mechanicalReduction>1</mechanicalReduction>
        </actuator>
    </transmission>
    <transmission name="stickbug/arm6/trans_w1">
        <type>transmission_interface/SimpleTransmission</type>
        <joint name="stickbug/arm6/w1">
            <hardwareInterface>hardware_interface/EffortJointInterface</hardwareInterface>
        </joint>
        <actuator name="stickbug/arm6/w1_motor">
            <hardwareInterface>hardware_interface/EffortJointInterface</hardwareInterface>
            <mechanicalReduction>1</mechanicalReduction>
        </actuator>
    </transmission>
    <transmission name="stickbug/arm6/trans_w2">
        <type>transmission_interface/SimpleTransmission</type>
        <joint name="stickbug/arm6/w2">
            <hardwareInterface>hardware_interface/EffortJointInterface</hardwareInterface>
        </joint>
        <actuator name="stickbug/arm6/w2_motor">
            <hardwareInterface>hardware_interface/EffortJointInterface</hardwareInterface>
            <mechanicalReduction>1</mechanicalReduction>
        </actuator>
    </transmission>
    <transmission name="stickbug/arm6/trans_e1">
        <type>transmission_interface/SimpleTransmission</type>
        <joint name="stickbug/arm6/e1">
            <hardwareInterface>hardware_interface/EffortJointInterface</hardwareInterface>
        </joint>
        <actuator name="stickbug/arm6/e1_motor">
            <hardwareInterface>hardware_interface/EffortJointInterface</hardwareInterface>
            <mechanicalReduction>1</mechanicalReduction>
        </actuator>
    </transmission>
    <transmission name="stickbug/arm6/trans_e2">
        <type>transmission_interface/SimpleTransmission</type>
        <joint name="stickbug/arm6/e2">
            <hardwareInterface>hardware_interface/EffortJointInterface</hardwareInterface>
        </joint>
        <actuator name="stickbug/arm6/e2_motor">
            <hardwareInterface>hardware_interface/EffortJointInterface</hardwareInterface>
            <mechanicalReduction>1</mechanicalReduction>
        </actuator>
    </transmission>
    <transmission name="stickbug/arm6/trans_e3">
        <type>transmission_interface/SimpleTransmission</type>
        <joint name="stickbug/arm6/e3">
            <hardwareInterface>hardware_interface/EffortJointInterface</hardwareInterface>
        </joint>
        <actuator name="stickbug/arm6/e3_motor">
            <hardwareInterface>hardware_interface/EffortJointInterface</hardwareInterface>
            <mechanicalReduction>1</mechanicalReduction>
        </actuator>
    </transmission>
    <!--================================ right realsense plugin ================================-->
    <gazebo reference="stickbug/arm6/cam_link">
        <sensor name="stickbug/arm6/cam_link_camera" type="depth">
            <update_rate>20</update_rate>
            <camera>
                <horizontal_fov>1.047198</horizontal_fov>
                <image>
                    <width>640</width>
                    <height>480</height>
                    <format>R8G8B8</format>
                </image>
                <clip>
                    <near>0.05</near>
                    <far>3</far>
                </clip>
            </camera>
            <plugin filename="libgazebo_ros_openni_kinect.so" name="stickbug/arm6/cam_link_controller">
                <baseline>0.2</baseline>
                <alwaysOn>true</alwaysOn>
                <updateRate>1.0</updateRate>
                <cameraName>stickbug/arm6/cam_link</cameraName>
                <imageTopicName>color/image_raw</imageTopicName>
                <cameraInfoTopicName>color/camera_info</cameraInfoTopicName>
                <depthImageTopicName>depth/image_raw</depthImageTopicName>
                <depthImageInfoTopicName>depth/camera_info</depthImageInfoTopicName>
                <pointCloudTopicName>depth/points</pointCloudTopicName>
                <frameName>stickbug/arm6/camera_frame</frameName>
                <pointCloudCutoff>0.5</pointCloudCutoff>
                <pointCloudCutoffMax>3.0</pointCloudCutoffMax>
                <distortionK1>0.00000001</distortionK1>
                <distortionK2>0.00000001</distortionK2>
                <distortionK3>0.00000001</distortionK3>
                <distortionT1>0.00000001</distortionT1>
                <distortionT2>0.00000001</distortionT2>
                <CxPrime>0</CxPrime>
                <Cx>0</Cx>
                <Cy>0</Cy>
                <focalLength>0</focalLength>
                <hackBaseline>0</hackBaseline>
            </plugin>
        </sensor>
    </gazebo>
    <!-- top-level gazebo-ros interface-->
    <gazebo>
        <plugin filename="libgazebo_ros_control.so" name="gazebo_ros_control">
            <robotNamespace>/stickbug</robotNamespace>
            <robotSimType>gazebo_ros_control/DefaultRobotHWSim</robotSimType>
        </plugin>
    </gazebo>
</robot>
